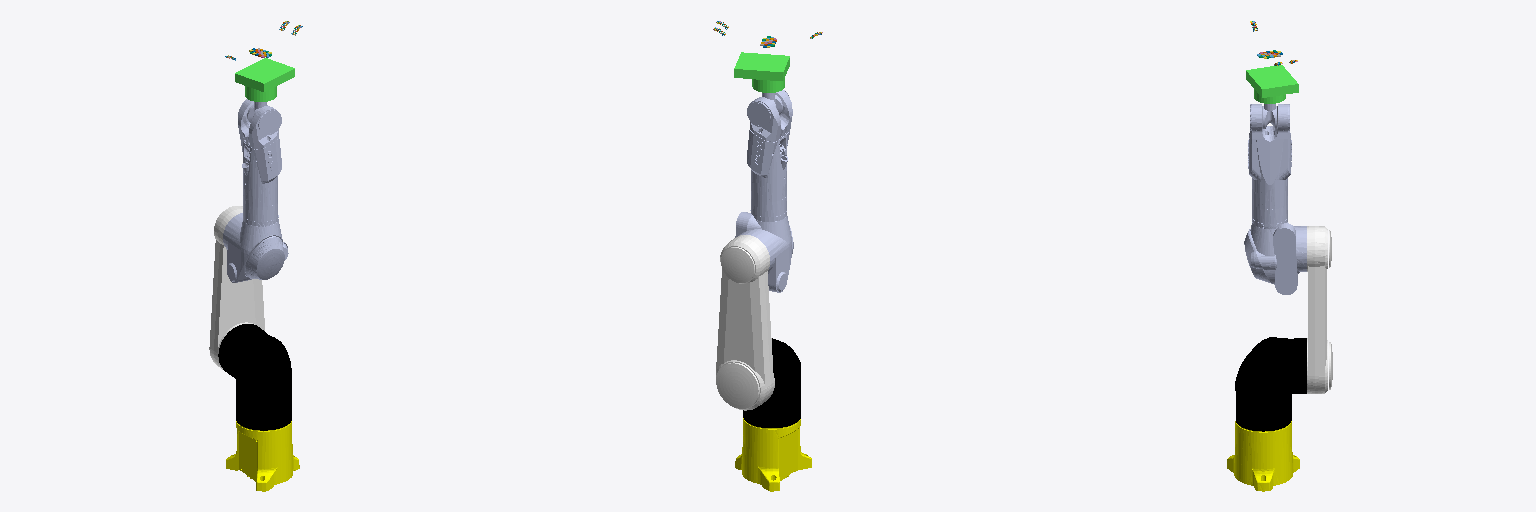
--- Render facts (derived) ---
Views: 3 orthographic renders of the robot side by side, from view 1: azimuth 30°, elevation 25°; view 2: azimuth 150°, elevation 25°; view 3: azimuth 270°, elevation 25°.
Model staubli_bhand with 119 links and 118 joints (14 revolute, 104 fixed), rooted at staubli_rx60l_link1, posed all joints at 0.
Links seen in each view (by area): view 1: staubli_rx60l_link2, staubli_rx60l_link5, staubli_rx60l_link3, staubli_rx60l_link4, staubli_rx60l_link1, barrett_mount_link; view 2: staubli_rx60l_link3, staubli_rx60l_link5, staubli_rx60l_link1, staubli_rx60l_link2, staubli_rx60l_link4, barrett_mount_link, wrist_load_cell; view 3: staubli_rx60l_link2, staubli_rx60l_link5, staubli_rx60l_link3, staubli_rx60l_link4, staubli_rx60l_link1, barrett_mount_link.
Link boxes in pixels (x1,y1,x2,y2): staubli_rx60l_link2: (218,324,291,430); staubli_rx60l_link5: (238,99,281,221); staubli_rx60l_link3: (209,206,264,369); staubli_rx60l_link4: (223,213,288,282); staubli_rx60l_link1: (226,421,299,491); barrett_mount_link: (235,58,294,91); staubli_rx60l_link3: (716,235,774,410); staubli_rx60l_link5: (747,90,792,216); staubli_rx60l_link1: (735,418,811,491); staubli_rx60l_link2: (743,338,800,427); staubli_rx60l_link4: (735,210,793,292); barrett_mount_link: (734,52,789,80); wrist_load_cell: (752,56,784,92); staubli_rx60l_link2: (1235,337,1306,431); staubli_rx60l_link5: (1248,104,1291,223); staubli_rx60l_link3: (1307,226,1332,393); staubli_rx60l_link4: (1244,218,1306,294); staubli_rx60l_link1: (1227,421,1299,491); barrett_mount_link: (1246,65,1298,97).
Bounding box of the posed robot: 0.3216 × 0.3308 × 1.49 m (x, y, z).
Meshes: 11 distinct files referenced, 7 mesh visuals loaded (7 Collada DAE); not drawn: 9 (reference not matched to a file when rendering).

The robot description file, URDF, robot "staubli_bhand":
<?xml version="1.0" ?>
<!-- =================================================================================== -->
<!-- |    This document was autogenerated by xacro from staubli_bhand.xacro            | -->
<!-- |    EDITING THIS FILE BY HAND IS NOT RECOMMENDED                                 | -->
<!-- =================================================================================== -->
<robot name="staubli_bhand">
    <!-- links -->
    <link name="staubli_rx60l_link1">
        <inertial>
            <mass value="0.1"/>
            <origin rpy="0 0 0" xyz="0 0 0"/>
            <inertia ixx="0.01" ixy="0" ixz="0" iyy="0.01" iyz="0" izz="0.01"/>
        </inertial>
        <visual>
            <origin rpy="0 0 0" xyz="0 0 0"/>
            <geometry>
                <mesh filename="package://staubli_description/meshes/tx60l/collada/1.dae" scale=".001 .001 .001"/>
            </geometry>
            <material name="Yellow">
                <color rgba="245 196 0 1.0"/>
            </material>
        </visual>
        <!--<collision>-->
            <!--<origin rpy="0 0 0" xyz="0 0 0"/>-->
            <!--<geometry>-->
                <!--<mesh filename="package://staubli_description/meshes/tx60l/collada/1.dae" scale=".001 .001 .001"/>-->
            <!--</geometry>-->
            <!--<material name="Yellow">-->
                <!--<color rgba="245 196 0 1.0"/>-->
            <!--</material>-->
            <!--<inertial>-->
                <!--<origin xyz="0 0 0"/>-->
                <!--<mass value="50.573"/>-->
                <!--<inertia ixx="0.0001" ixy="0.0" ixz="0.0" iyy="0.0001" iyz="0.0" izz="0.001"/>-->
            <!--</inertial>-->
        <!--</collision>-->
    </link>
    <link name="staubli_rx60l_link2">
        <inertial>
            <mass value="0.1"/>
            <origin rpy="0 0 0" xyz="0 0 0"/>
            <inertia ixx="0.01" ixy="0" ixz="0" iyy="0.01" iyz="0" izz="0.01"/>
        </inertial>
        <visual>
            <origin rpy="0 0 0" xyz="0 0 0"/>
            <geometry>
                <mesh filename="package://staubli_description/meshes/tx60l/collada/2.dae" scale=".001 .001 .001"/>
            </geometry>
            <material name="Black">
                <color rgba="0 0 0 1.0"/>
            </material>
        </visual>
        <!--<collision>-->
            <!--<origin rpy="0 0 0" xyz="0 0 0"/>-->
            <!--<geometry>-->
                <!--<mesh filename="package://staubli_description/meshes/tx60l/collada/2.dae" scale=".001 .001 .001"/>-->
            <!--</geometry>-->
            <!--<material name="Black">-->
                <!--<color rgba="0 0 0 1.0"/>-->
            <!--</material>-->
            <!--<inertial>-->
                <!--<origin xyz="0 0 0"/>-->
                <!--<mass value="50.573"/>-->
                <!--<inertia ixx="0.0001" ixy="0.0" ixz="0.0" iyy="0.0001" iyz="0.0" izz="0.001"/>-->
            <!--</inertial>-->
        <!--</collision>-->
    </link>
    <link name="staubli_rx60l_link3">
        <inertial>
            <mass value="0.1"/>
            <origin rpy="0 0 0" xyz="0 0 0"/>
            <inertia ixx="0.01" ixy="0" ixz="0" iyy="0.01" iyz="0" izz="0.01"/>
        </inertial>
        <visual>
            <origin rpy="0 0 0" xyz="-0.4 0 0"/>
            <geometry>
                <mesh filename="package://staubli_description/meshes/tx60l/collada/3.dae" scale=".001 .001 .001"/>
            </geometry>
            <material name="White">
                <color rgba="255 255 255 1.0"/>
            </material>
        </visual>
        <!--<collision>-->
            <!--<origin rpy="0 0 0" xyz="-0.4 0 0"/>-->
            <!--<geometry>-->
                <!--<mesh filename="package://staubli_description/meshes/tx60l/collada/3.dae" scale=".001 .001 .001"/>-->
            <!--</geometry>-->
            <!--<material name="White">-->
                <!--<color rgba="[phone redacted] 1.0"/>-->
            <!--</material>-->
        <!--</collision>-->
    </link>
    <link name="staubli_rx60l_link4">
        <inertial>
            <mass value="0.1"/>
            <origin rpy="0 0 0" xyz="0 0 0"/>
            <inertia ixx="0.01" ixy="0" ixz="0" iyy="0.01" iyz="0" izz="0.01"/>
        </inertial>
        <visual>
            <origin rpy="0 0 0" xyz="0 0 0"/>
            <geometry>
                <mesh filename="package://staubli_description/meshes/tx60l/collada/4.dae" scale=".001 .001 .001"/>
            </geometry>
            <material name="Blue"/>
        </visual>
        <!--<collision>-->
            <!--<origin rpy="0 0 0" xyz="0 0 0"/>-->
            <!--<geometry>-->
                <!--<mesh filename="package://staubli_description/meshes/tx60l/collada/4.dae" scale=".001 .001 .001"/>-->
            <!--</geometry>-->
            <!--<material name="Blue">-->
                <!--<color rgba="0 0 255 1.0"/>-->
            <!--</material>-->
        <!--</collision>-->
    </link>
    <link name="staubli_rx60l_link5">
        <inertial>
            <mass value="0.1"/>
            <origin rpy="0 0 0" xyz="0 0 0"/>
            <inertia ixx="0.01" ixy="0" ixz="0" iyy="0.01" iyz="0" izz="0.01"/>
        </inertial>
        <visual>
            <origin rpy="0 0 0" xyz="0 0 0"/>
            <geometry>
                <mesh filename="package://staubli_description/meshes/tx60l/collada/5.dae" scale=".001 .001 .001"/>
            </geometry>
            <material name="Blue"/>
        </visual>
        <!--<collision>-->
            <!--<origin rpy="0 0 0" xyz="0 0 0"/>-->
            <!--<geometry>-->
                <!--<mesh filename="package://staubli_description/meshes/tx60l/collada/5.dae" scale=".001 .001 .001"/>-->
            <!--</geometry>-->
            <!--<material name="Blue">-->
                <!--<color rgba="0 0 255 1.0"/>-->
            <!--</material>-->
        <!--</collision>-->
    </link>
    <link name="staubli_rx60l_link6">
        <inertial>
            <mass value="0.1"/>
            <origin rpy="0 0 0" xyz="0 0 0"/>
            <inertia ixx="0.01" ixy="0" ixz="0" iyy="0.01" iyz="0" izz="0.01"/>
        </inertial>
        <visual>
            <origin rpy="0 0 0" xyz="0 0 0"/>
            <geometry>
                <mesh filename="package://staubli_description/meshes/tx60l/collada/6.dae" scale=".001 .001 .001"/>
            </geometry>
            <material name="Blue"/>
        </visual>
        <!--<collision>-->
            <!--<origin rpy="0 0 0" xyz="0 0 0"/>-->
            <!--<geometry>-->
                <!--<mesh filename="package://staubli_description/meshes/tx60l/collada/6.dae" scale=".001 .001 .001"/>-->
            <!--</geometry>-->
            <!--<material name="Blue">-->
                <!--<color rgba="0 0 255 1.0"/>-->
            <!--</material>-->
        <!--</collision>-->
    </link>
    <link name="staubli_rx60l_link7">
        <inertial>
            <mass value="0.1"/>
            <origin rpy="0 0 0" xyz="0 0 0"/>
            <inertia ixx="0.01" ixy="0" ixz="0" iyy="0.01" iyz="0" izz="0.01"/>
        </inertial>
        <visual>
            <origin rpy="0 0 0" xyz="0 0 0"/>
            <geometry>
                <mesh filename="package://staubli_description/meshes/tx60l/collada/7.dae" scale=".001 .001 .001"/>
            </geometry>
            <material name="Gray">
                <color rgba="100 100 100 1.0"/>
            </material>
        </visual>
        <!--<collision>-->
            <!--<origin rpy="0 0 0" xyz="0 0 0"/>-->
            <!--<geometry>-->
                <!--<mesh filename="package://staubli_description/meshes/tx60l/collada/7.dae" scale=".001 .001 .001"/>-->
            <!--</geometry>-->
            <!--<material name="Gray">-->
                <!--<color rgba="[phone redacted] 1.0"/>-->
            <!--</material>-->
        <!--</collision>-->
    </link>
    <link name="staubli_rx60l_tool0">
        <inertial>
            <mass value="0.1"/>
            <origin rpy="0 0 0" xyz="0 0 0"/>
            <inertia ixx="0.01" ixy="0" ixz="0" iyy="0.01" iyz="0" izz="0.01"/>
        </inertial>
    </link>

    <!-- joints -->
    <joint name="joint_1" type="revolute">
        <origin rpy="1.57079 0.0 3.1415" xyz="0 0 0"/>
        <parent link="staubli_rx60l_link1"/>
        <child link="staubli_rx60l_link2"/>
        <axis xyz="0 1 0"/>
        <limit effort="100" lower="-2.792526803" upper="2.792526803" velocity="5.009094953"/>
    </joint>
    <joint name="joint_2" type="revolute">
        <origin rpy="0 0 -1.5707" xyz="0 0.0 0.1606"/>
        <parent link="staubli_rx60l_link2"/>
        <child link="staubli_rx60l_link3"/>
        <axis xyz="0 0 1"/>
        <limit effort="100" lower="-2.225294796" upper="2.225294796" velocity="5.009094953"/>
    </joint>
    <joint name="joint_3" type="revolute">
        <origin rpy="1.5707 0 -1.5707" xyz="-0.4 0.0 -0.1406"/>
        <parent link="staubli_rx60l_link3"/>
        <child link="staubli_rx60l_link4"/>
        <axis xyz="0 1 0"/>
        <limit effort="100" lower="-2.347467844" upper="2.347467844" velocity="5.567600314"/>
    </joint>
    <joint name="joint_4" type="revolute">
        <origin rpy="1.571 -0.000 3.142" xyz="0 0 0.45"/>
        <parent link="staubli_rx60l_link4"/>
        <child link="staubli_rx60l_link5"/>
        <axis xyz="0 1 0"/>
        <limit effort="100" lower="-4.71238898" upper="4.71238898" velocity="7.155849933"/>
    </joint>
    <joint name="joint_5" type="revolute">
        <origin rpy="1.571 0.000 3.142" xyz="0 0 0.0"/>
        <parent link="staubli_rx60l_link5"/>
        <child link="staubli_rx60l_link6"/>
        <axis xyz="0 1 0"/>
        <limit effort="100" lower="-1.78" upper="1.86" velocity="5.585053606"/>
    </joint>
    <joint name="joint_6" type="revolute">
        <origin xyz="0 0 0.07"/>
        <parent link="staubli_rx60l_link6"/>
        <child link="staubli_rx60l_link7"/>
        <axis xyz="0 0 1"/>
        <limit effort="100" lower="-6.2" upper="6.2" velocity="12.217304764"/>
    </joint>
    <joint name="joint_6-tool0" type="fixed">
        <parent link="staubli_rx60l_link7"/>
        <child link="staubli_rx60l_tool0"/>
        <origin rpy="0 0 0" xyz="0 0 0"/>
    </joint>
    <link name="wrist_load_cell">
        <visual>
            <material name="ATIGreen">
                <color rgba="0.4 1.0 0.4 1.0"/>
            </material>
            <origin rpy="0 0 0" xyz="0 0 0"/>
            <geometry>
                <cylinder length="0.0775" radius="0.05"/>
            </geometry>
        </visual>
        <collision>
            <material name="ATIGreen">
                <color rgba="0.4 1.0 0.4 1.0"/>
            </material>
            <origin rpy="0 0 0" xyz="0 0 0"/>
            <geometry>
                <cylinder length="0.0775" radius="0.065"/>
            </geometry>
        </collision>
        <inertial>
            <origin xyz="0 0 0"/>
            <mass value="0.50573"/>
            <inertia ixx="0.0001" ixy="0.0" ixz="0.0" iyy="0.0001" iyz="0.0" izz="0.001"/>
        </inertial>
    </link>
    <joint name="ati_load_cell_joint" type="fixed">
        <origin rpy="0 0 0" xyz="0 0 0.03875"/>
        <parent link="staubli_rx60l_link7"/>
        <child link="wrist_load_cell"/>
    </joint>
    <link name="barrett_mount_link">
        <visual>
            <origin rpy="0 0 0" xyz="0.0 0.02 0"/>
            <material name="ATIGreen">
                <color rgba="0.4 1.0 0.4 1.0"/>
            </material>
            <geometry>
                <box size="0.12 0.15 0.03"/>
            </geometry>
        </visual>
        <collision>
            <origin rpy="0 0 0" xyz="0.0 0.02 0"/>
            <material name="ATIGreen">
                <color rgba="0.4 1.0 0.4 1.0"/>
            </material>
            <geometry>
                <cylinder length="0.0775" radius="0.065"/>
            </geometry>
        </collision>
        <inertial>
            <origin xyz="0 0 0"/>
            <mass value="0.50573"/>
            <inertia ixx="0.0001" ixy="0.0" ixz="0.0" iyy="0.0001" iyz="0.0" izz="0.001"/>
        </inertial>
    </link>
    <joint name="barrett_mount_joint" type="fixed">
        <origin rpy="0 0 5.0614" xyz="0 0 0.0625"/>
        <parent link="staubli_rx60l_link7"/>
        <child link="barrett_mount_link"/>
    </joint>
    <link name="approach_tran">
        <inertial>
            <origin xyz="0 0 0"/>
            <mass value="0.001"/>
            <inertia ixx="0.0001" ixy="0.0" ixz="0.0" iyy="0.0001" iyz="0.0" izz="0.001"/>
        </inertial>
    </link>
    <joint name="approach_tran_joint" type="fixed">
        <origin rpy="0 0 5.0614" xyz="0 0 0.149"/>
        <parent link="staubli_rx60l_link7"/>
        <child link="approach_tran"/>
    </joint>
    <joint name="bh_base_joint" type="fixed">
        <origin rpy="0 0 5.0614" xyz="0 0 0.0705"/>
        <parent link="staubli_rx60l_link7"/>
        <child link="bh_base_link"/>
    </joint>
    <!-- HAND WORLD_LINK (RED) -->
    <link name="bh_base_link">
        <inertial>
            <mass value="1.0"/>
            <origin xyz="0 0 0"/>
            <inertia ixx="1.0" ixy="0.0" ixz="0.0" iyy="1.0" iyz="0.0" izz="1.0"/>
        </inertial>
        <visual>
            <origin rpy="0 0 0" xyz="0 0 0"/>
            <geometry>
                <mesh filename="package://barrett_hand_description/meshes/palm_280.dae"/>
            </geometry>
            <material name="White"/>
        </visual>
        <collision>
            <origin rpy="0 0 0 " xyz="0 0 0"/>
            <geometry>
                <mesh filename="package://barrett_hand_description/meshes/palm_280.dae"/>
            </geometry>
            <contact_coefficients kd="1.0" kp="1000.0" mu="0"/>
        </collision>
    </link>
    <!-- finger 3 -->
    <!-- finger 32 link -->
    <link name="bh_finger_32_link">
        <inertial>
            <mass value="0.1"/>
            <origin rpy="0 0 0" xyz="0 0 0"/>
            <inertia ixx="0.01" ixy="0" ixz="0" iyy="0.01" iyz="0" izz="0.01"/>
        </inertial>
        <visual>
            <origin rpy="0 0 0" xyz="0 0 0"/>
            <geometry>
                <mesh filename="package://barrett_hand_description/meshes/finger.dae"/>
            </geometry>
            <material name="Blue"/>
        </visual>
        <collision>
            <origin rpy="0 0 0" xyz="0 0 0"/>
            <geometry>
                <mesh filename="package://barrett_hand_description/meshes/finger.dae"/>
            </geometry>
            <contact_coefficients kd="1.0" kp="1000.0" mu="0"/>
        </collision>
    </link>
    <!-- joint between BH_finger_31_link and BH_finger_32_link -->
    <joint name="bh_j32_joint" type="revolute">
        <parent link="bh_base_link"/>
        <child link="bh_finger_32_link"/>
        <origin rpy="1.5708 0 1.5708" xyz="0 -0.05 0.0754"/>
        <axis xyz="0 0 -1"/>
        <limit effort="30.0" lower="0.0" upper="2.44" velocity="2.0"/>
        <dynamics damping="1" friction="1.0"/>
    </joint>
    <transmission name="bh_j32_transmission">
        <type>transmission_interface/SimpleTransmission</type>
        <joint name="bh_j32_joint">
            <hardwareInterface>PositionJointInterface</hardwareInterface>
        </joint>
        <actuator name="bh_j32">
            <hardwareInterface>PositionJointInterface</hardwareInterface>
            <mechanicalReduction>1</mechanicalReduction>
            <motorTorqueConstant>1</motorTorqueConstant>
        </actuator>
    </transmission>
    <!-- finger 33 link -->
    <link name="bh_finger_33_link">
        <inertial>
            <mass value="0.1"/>
            <origin rpy="0 0 0" xyz="0 0 0"/>
            <inertia ixx="0.01" ixy="0" ixz="0" iyy="0.01" iyz="0" izz="0.01"/>
        </inertial>
        <visual>
            <origin rpy="0 0 0" xyz="0 0 0"/>
            <geometry>
                <mesh filename="package://barrett_hand_description/meshes/finger_tip.dae"/>
            </geometry>
            <material name="White"/>
        </visual>
        <collision>
            <origin rpy="0 0 0" xyz="0 0 0"/>
            <geometry>
                <mesh filename="package://barrett_hand_description/meshes/finger_tip.dae"/>
            </geometry>
            <contact_coefficients kd="1.0" kp="1000.0" mu="0"/>
        </collision>
    </link>
    <!-- joint between BH_finger_32_link and BH_finger_33_link -->
    <joint name="bh_j33_joint" type="revolute">
        <parent link="bh_finger_32_link"/>
        <child link="bh_finger_33_link"/>
        <origin rpy="0 0 0" xyz="-0.069936 0.003 0"/>
        <axis xyz="0 0 -1"/>
        <mimic joint="bh_j32_joint" multiplier="0.344262295082"/>
        <limit effort="30.0" lower="0.0" upper="0.84" velocity="2.0"/>
        <dynamics damping="1" friction="1.0"/>
    </joint>
    <transmission name="bh_j33_transmission">
        <type>transmission_interface/SimpleTransmission</type>
        <joint name="bh_j33_joint">
            <hardwareInterface>PositionJointInterface</hardwareInterface>
        </joint>
        <actuator name="bh_j33">
            <hardwareInterface>PositionJointInterface</hardwareInterface>
            <mechanicalReduction>1</mechanicalReduction>
            <motorTorqueConstant>1</motorTorqueConstant>
        </actuator>
    </transmission>
    <!-- finger 1 -->
    <!-- finger 11 link -->
    <link name="bh_finger_11_link">
        <inertial>
            <mass value="0.1"/>
            <origin rpy="0 0 0" xyz="-0.046 0 0"/>
            <inertia ixx="0.01" ixy="0" ixz="0" iyy="0.01" iyz="0" izz="0.01"/>
        </inertial>
        <visual>
            <origin rpy="0 0 0" xyz="0 0 0"/>
            <geometry>
                <mesh filename="package://barrett_hand_description/meshes/knuckle.dae"/>
            </geometry>
            <material name="Green"/>
        </visual>
        <collision>
            <origin rpy="0 0 0" xyz="0 0 0"/>
            <geometry>
                <mesh filename="package://barrett_hand_description/meshes/knuckle.dae"/>
            </geometry>
        </collision>
    </link>
    <!-- joint between BH_palm_link and BH_finger_11_link -->
    <joint name="bh_j11_joint" type="revolute">
        <parent link="bh_base_link"/>
        <child link="bh_finger_11_link"/>
        <origin rpy="0 0 -1.5708" xyz="0.025 0 0.0415"/>
        <axis xyz="0 0 -1"/>
        <limit effort="30.0" lower="0" upper="3.1416" velocity="2.0"/>
        <dynamics damping="1" friction="1.0"/>
    </joint>
    <transmission name="bh_j11_transmission">
        <type>transmission_interface/SimpleTransmission</type>
        <joint name="bh_j11_joint">
            <hardwareInterface>PositionJointInterface</hardwareInterface>
        </joint>
        <actuator name="bh_j11">
            <hardwareInterface>PositionJointInterface</hardwareInterface>
            <mechanicalReduction>1</mechanicalReduction>
            <motorTorqueConstant>1</motorTorqueConstant>
        </actuator>
    </transmission>
    <!-- finger 12 link -->
    <link name="bh_finger_12_link">
        <inertial>
            <mass value="0.1"/>
            <origin rpy="0 0 0" xyz="0 0 0"/>
            <inertia ixx="0.01" ixy="0" ixz="0" iyy="0.01" iyz="0" izz="0.01"/>
        </inertial>
        <visual>
            <origin rpy="0 0 0" xyz="0 0 0"/>
            <geometry>
                <mesh filename="package://barrett_hand_description/meshes/finger.dae"/>
            </geometry>
            <material name="Blue"/>
        </visual>
        <collision>
            <origin rpy="0 0 0" xyz="0 0 0"/>
            <geometry>
                <mesh filename="package://barrett_hand_description/meshes/finger.dae"/>
            </geometry>
            <contact_coefficients kd="1.0" kp="1000.0" mu="0"/>
        </collision>
    </link>
    <!-- joint between BH_finger_11_link and BH_finger_12_link -->
    <joint name="bh_j12_joint" type="revolute">
        <parent link="bh_finger_11_link"/>
        <child link="bh_finger_12_link"/>
        <origin rpy="1.5708 0 0" xyz="-0.05 0 0.0339"/>
        <axis xyz="0 0 -1"/>
        <limit effort="30.0" lower="0.0" upper="2.44" velocity="2.0"/>
        <dynamics damping="1" friction="1.0"/>
    </joint>
    <transmission name="bh_j12_transmission">
        <type>transmission_interface/SimpleTransmission</type>
        <joint name="bh_j12_joint">
            <hardwareInterface>PositionJointInterface</hardwareInterface>
        </joint>
        <actuator name="bh_j12">
            <hardwareInterface>PositionJointInterface</hardwareInterface>
            <mechanicalReduction>1</mechanicalReduction>
            <motorTorqueConstant>1</motorTorqueConstant>
        </actuator>
    </transmission>
    <!-- finger 13 link -->
    <link name="bh_finger_13_link">
        <inertial>
            <mass value="0.1"/>
            <origin rpy="0 0 0" xyz="0 0 0"/>
            <inertia ixx="0.01" ixy="0" ixz="0" iyy="0.01" iyz="0" izz="0.01"/>
        </inertial>
        <visual>
            <origin rpy="0 0 0" xyz="0 0 0"/>
            <geometry>
                <mesh filename="package://barrett_hand_description/meshes/finger_tip.dae"/>
            </geometry>
            <material name="White"/>
        </visual>
        <collision>
            <origin rpy="0 0 0" xyz="0 0 0"/>
            <geometry>
                <mesh filename="package://barrett_hand_description/meshes/finger_tip.dae"/>
            </geometry>
            <contact_coefficients kd="1.0" kp="1000.0" mu="0"/>
        </collision>
    </link>
    <!-- joint between BH_finger_12_link and BH_finger_13_link -->
    <joint name="bh_j13_joint" type="revolute">
        <parent link="bh_finger_12_link"/>
        <child link="bh_finger_13_link"/>
        <origin rpy="0 0 0" xyz="-0.069936 0.003 0"/>
        <axis xyz="0 0 -1"/>
        <mimic joint="bh_j12_joint" multiplier="0.344262295082"/>
        <limit effort="30.0" lower="0.0" upper="0.84" velocity="2.0"/>
        <dynamics damping="1" friction="1.0"/>
    </joint>
    <transmission name="bh_j13_transmission">
        <type>transmission_interface/SimpleTransmission</type>
        <joint name="bh_j13_joint">
            <hardwareInterface>PositionJointInterface</hardwareInterface>
        </joint>
        <actuator name="bh_j13">
            <hardwareInterface>PositionJointInterface</hardwareInterface>
            <mechanicalReduction>1</mechanicalReduction>
            <motorTorqueConstant>1</motorTorqueConstant>
        </actuator>
    </transmission>
    <!-- finger 2 -->
    <!-- finger 21 link -->
    <link name="bh_finger_21_link">
        <inertial>
            <mass value="0.1"/>
            <origin rpy="0 0 0" xyz="-0.046 0 0"/>
            <inertia ixx="0.01" ixy="0" ixz="0" iyy="0.01" iyz="0" izz="0.01"/>
        </inertial>
        <visual>
            <origin rpy="0 0 0" xyz="0 0 0"/>
            <geometry>
                <mesh filename="package://barrett_hand_description/meshes/knuckle.dae"/>
            </geometry>
            <material name="Green"/>
        </visual>
        <collision>
            <origin rpy="0 0 0" xyz="0 0 0"/>
            <geometry>
                <mesh filename="package://barrett_hand_description/meshes/knuckle.dae"/>
            </geometry>
        </collision>
    </link>
    <!-- joint between BH_palm_link and BH_finger_21_link -->
    <joint name="bh_j21_joint" type="revolute">
        <parent link="bh_base_link"/>
        <child link="bh_finger_21_link"/>
        <origin rpy="0 0 -1.5708" xyz="-0.025 0 0.0415"/>
        <axis xyz="0 0 1"/>
        <mimic joint="bh_j11_joint" multiplier="1"/>
        <limit effort="30.0" lower="0" upper="3.1416" velocity="2.0"/>
        <dynamics damping="1" friction="1.0"/>
    </joint>
    <transmission name="bh_j21_transmission">
        <type>transmission_interface/SimpleTransmission</type>
        <joint name="bh_j21_joint">
            <hardwareInterface>PositionJointInterface</hardwareInterface>
        </joint>
        <actuator name="bh_j21">
            <hardwareInterface>PositionJointInterface</hardwareInterface>
            <mechanicalReduction>1</mechanicalReduction>
            <motorTorqueConstant>1</motorTorqueConstant>
        </actuator>
    </transmission>
    <!-- finger 12 link -->
    <link name="bh_finger_22_link">
        <inertial>
            <mass value="0.1"/>
            <origin rpy="0 0 0" xyz="0 0 0"/>
            <inertia ixx="0.01" ixy="0" ixz="0" iyy="0.01" iyz="0" izz="0.01"/>
        </inertial>
        <visual>
            <origin rpy="0 0 0" xyz="0 0 0"/>
            <geometry>
                <mesh filename="package://barrett_hand_description/meshes/finger.dae"/>
            </geometry>
            <material name="Blue"/>
        </visual>
        <collision>
            <origin rpy="0 0 0" xyz="0 0 0"/>
            <geometry>
                <mesh filename="package://barrett_hand_description/meshes/finger.dae"/>
            </geometry>
            <contact_coefficients kd="1.0" kp="1000.0" mu="0"/>
        </collision>
    </link>
    <!-- joint between BH_finger_21_link and BH_finger_22_link -->
    <joint name="bh_j22_joint" type="revolute">
        <parent link="bh_finger_21_link"/>
        <child link="bh_finger_22_link"/>
        <origin rpy="1.5708 -8.8281E-17 0" xyz="-0.05 0 0.0339"/>
        <axis xyz="0 0 -1"/>
        <limit effort="30.0" lower="0.0" upper="2.44" velocity="2.0"/>
        <dynamics damping="1" friction="1.0"/>
    </joint>
    <transmission name="bh_j22_transmission">
        <type>transmission_interface/SimpleTransmission</type>
        <joint name="bh_j22_joint">
            <hardwareInterface>PositionJointInterface</hardwareInterface>
        </joint>
        <actuator name="bh_j22">
            <hardwareInterface>PositionJointInterface</hardwareInterface>
            <mechanicalReduction>1</mechanicalReduction>
            <motorTorqueConstant>1</motorTorqueConstant>
        </actuator>
    </transmission>
    <!-- finger 23 link -->
    <link name="bh_finger_23_link">
        <inertial>
            <mass value="0.1"/>
            <origin rpy="0 0 0" xyz="0 0 0"/>
            <inertia ixx="0.01" ixy="0" ixz="0" iyy="0.01" iyz="0" izz="0.01"/>
        </inertial>
        <visual>
            <origin rpy="0 0 0" xyz="0 0 0"/>
            <geometry>
                <mesh filename="package://barrett_hand_description/meshes/finger_tip.dae"/>
            </geometry>
            <material name="White"/>
        </visual>
        <collision>
            <origin rpy="0 0 0" xyz="0 0 0"/>
            <geometry>
                <mesh filename="package://barrett_hand_description/meshes/finger_tip.dae"/>
            </geometry>
            <contact_coefficients kd="1.0" kp="1000.0" mu="0"/>
        </collision>
    </link>
    <!-- joint between BH_finger_22_link and BH_finger_23_link -->
    <joint name="bh_j23_joint" type="revolute">
        <parent link="bh_finger_22_link"/>
        <child link="bh_finger_23_link"/>
        <origin rpy="0 0 0" xyz="-0.069936 0.003 0"/>
        <axis xyz="0 0 -1"/>
        <mimic joint="bh_j22_joint" multiplier="0.344262295082"/>
        <limit effort="30.0" lower="0.0" upper="0.84" velocity="2.0"/>
        <dynamics damping="1" friction="1.0"/>
    </joint>
    <transmission name="bh_j23_transmission">
        <type>transmission_interface/SimpleTransmission</type>
        <joint name="bh_j23_joint">
            <hardwareInterface>PositionJointInterface</hardwareInterface>
        </joint>
        <actuator name="bh_j23">
            <hardwareInterface>PositionJointInterface</hardwareInterface>
            <mechanicalReduction>1</mechanicalReduction>
            <motorTorqueConstant>1</motorTorqueConstant>
        </actuator>
    </transmission>
    <gazebo>
        <plugin filename="libgazebo_mimic_plugin.so" name="mimic_plugin">
            <joint>bh_j11_joint</joint>
            <mimicJoint>bh_j21_joint</mimicJoint>
            <multiplier>1</multiplier>
        </plugin>
    </gazebo>
    <gazebo>
        <plugin filename="libgazebo_mimic_plugin.so" name="mimic_plugin">
            <joint>bh_j12_joint</joint>
            <mimicJoint>bh_j13_joint</mimicJoint>
            <multiplier>0.344</multiplier>
        </plugin>
    </gazebo>
    <gazebo>
        <plugin filename="libgazebo_mimic_plugin.so" name="mimic_plugin">
            <joint>bh_j22_joint</joint>
            <mimicJoint>bh_j23_joint</mimicJoint>
            <multiplier>0.344</multiplier>
        </plugin>
    </gazebo>
    <gazebo>
        <plugin filename="libgazebo_mimic_plugin.so" name="mimic_plugin">
            <joint>bh_j32_joint</joint>
            <mimicJoint>bh_j33_joint</mimicJoint>
            <multiplier>0.344</multiplier>
        </plugin>
    </gazebo>
    <gazebo reference="bh_base_link">
        <material>Gazebo/White</material>
        <turnGravityOff>False</turnGravityOff>
    </gazebo>
    <gazebo reference="bh_finger_31_link">
        <material>Gazebo/Grey</material>
        <turnGravityOff>False</turnGravityOff>
    </gazebo>
    <gazebo reference="bh_finger_32_link">
        <material>Gazebo/Grey</material>
        <turnGravityOff>False</turnGravityOff>
    </gazebo>
    <gazebo reference="bh_finger_33_link">
        <material>Gazebo/Grey</material>
        <turnGravityOff>False</turnGravityOff>
    </gazebo>
    <gazebo reference="bh_finger_11_link">
        <material>Gazebo/Grey</material>
        <turnGravityOff>False</turnGravityOff>
    </gazebo>
    <gazebo reference="bh_finger_12_link">
        <material>Gazebo/Grey</material>
        <turnGravityOff>False</turnGravityOff>
    </gazebo>
    <gazebo reference="bh_finger_13_link">
        <material>Gazebo/Grey</material>
        <turnGravityOff>False</turnGravityOff>
    </gazebo>
    <gazebo reference="bh_finger_21_link">
        <material>Gazebo/Grey</material>
        <turnGravityOff>False</turnGravityOff>
    </gazebo>
    <gazebo reference="bh_finger_22_link">
        <material>Gazebo/Grey</material>
        <turnGravityOff>False</turnGravityOff>
    </gazebo>
    <gazebo reference="bh_finger_23_link">
        <material>Gazebo/Grey</material>
        <turnGravityOff>False</turnGravityOff>
    </gazebo>
    <!-- Imaginary joints for transform from tactile sensors -->
    <!-- Radian value obtained from graspit description of 40 degrees -->
    <joint name="bh_finger_14_joint" type="fixed">
        <parent link="bh_finger_13_link"/>
        <child link="bh_finger_14_link"/>
        <origin rpy="0 0 0.872665" xyz="0 0 0"/>
    </joint>
    <link name="bh_finger_14_link">
        <inertial>
            <mass value="0.1"/>
            <origin rpy="0 0 0" xyz="0 0 0"/>
            <inertia ixx="0.01" ixy="0" ixz="0" iyy="0.01" iyz="0" izz="0.01"/>
        </inertial>
    </link>
    <joint name="bh_finger_24_joint" type="fixed">
        <parent link="bh_finger_23_link"/>
        <child link="bh_finger_24_link"/>
        <origin rpy="0 0 0.872665" xyz="0 0 0"/>
    </joint>
    <link name="bh_finger_24_link">
        <inertial>
            <mass value="0.1"/>
            <origin rpy="0 0 0" xyz="0 0 0"/>
            <inertia ixx="0.01" ixy="0" ixz="0" iyy="0.01" iyz="0" izz="0.01"/>
        </inertial>
    </link>
    <joint name="bh_finger_34_joint" type="fixed">
        <parent link="bh_finger_33_link"/>
        <child link="bh_finger_34_link"/>
        <origin rpy="0 0 0.872665" xyz="0 0 0"/>
    </joint>
    <link name="bh_finger_34_link">
        <inertial>
            <mass value="0.1"/>
            <origin rpy="0 0 0" xyz="0 0 0"/>
            <inertia ixx="0.01" ixy="0" ixz="0" iyy="0.01" iyz="0" izz="0.01"/>
        </inertial>
    </link>
    <!-- Auto generated tactile sensor links -->
    <joint name="bh_palm_sensor1_joint" type="fixed">
        <origin rpy="0 0 0" xyz="-0.022 0.0165 0.075"/>
        <parent link="bh_base_link"/>
        <child link="bh_palm_sensor_1_link"/>
    </joint>
    <link name="bh_palm_sensor_1_link">
        <inertial>
            <mass value="0.1"/>
            <origin rpy="0 0 0" xyz="0 0 0"/>
            <inertia ixx="0.01" ixy="0" ixz="0" iyy="0.01" iyz="0" izz="0.01"/>
        </inertial>
        <visual>
            <origin rpy="0 0 0" xyz="0 0 0"/>
            <material name="Blue"/>
            <geometry>
                <box size="0.01 0.01 0.004"/>
            </geometry>
        </visual>
        <collision>
            <origin rpy="0 0 0 " xyz="0 0 0"/>
            <geometry>
                <box size="0.01 0.01 0.004"/>
            </geometry>
        </collision>
    </link>
    <joint name="bh_palm_sensor2_joint" type="fixed">
        <origin rpy="0 0 0" xyz="-0.011 0.0165 0.075"/>
        <parent link="bh_base_link"/>
        <child link="bh_palm_sensor_2_link"/>
    </joint>
    <link name="bh_palm_sensor_2_link">
        <inertial>
            <mass value="0.1"/>
            <origin rpy="0 0 0" xyz="0 0 0"/>
            <inertia ixx="0.01" ixy="0" ixz="0" iyy="0.01" iyz="0" izz="0.01"/>
        </inertial>
        <visual>
            <origin rpy="0 0 0" xyz="0 0 0"/>
            <material name="Blue"/>
            <geometry>
                <box size="0.01 0.01 0.004"/>
            </geometry>
        </visual>
        <collision>
            <origin rpy="0 0 0 " xyz="0 0 0"/>
            <geometry>
                <box size="0.01 0.01 0.004"/>
            </geometry>
        </collision>
    </link>
    <joint name="bh_palm_sensor3_joint" type="fixed">
        <origin rpy="0 0 0" xyz="0.0 0.0165 0.075"/>
        <parent link="bh_base_link"/>
        <child link="bh_palm_sensor_3_link"/>
    </joint>
    <link name="bh_palm_sensor_3_link">
        <inertial>
            <mass value="0.1"/>
            <origin rpy="0 0 0" xyz="0 0 0"/>
            <inertia ixx="0.01" ixy="0" ixz="0" iyy="0.01" iyz="0" izz="0.01"/>
        </inertial>
        <visual>
            <origin rpy="0 0 0" xyz="0 0 0"/>
            <material name="Blue"/>
            <geometry>
                <box size="0.01 0.01 0.004"/>
            </geometry>
        </visual>
        <collision>
            <origin rpy="0 0 0 " xyz="0 0 0"/>
            <geometry>
                <box size="0.01 0.01 0.004"/>
            </geometry>
        </collision>
    </link>
    <joint name="bh_palm_sensor4_joint" type="fixed">
        <origin rpy="0 0 0" xyz="0.011 0.0165 0.075"/>
        <parent link="bh_base_link"/>
        <child link="bh_palm_sensor_4_link"/>
    </joint>
    <link name="bh_palm_sensor_4_link">
        <inertial>
            <mass value="0.1"/>
            <origin rpy="0 0 0" xyz="0 0 0"/>
            <inertia ixx="0.01" ixy="0" ixz="0" iyy="0.01" iyz="0" izz="0.01"/>
        </inertial>
        <visual>
            <origin rpy="0 0 0" xyz="0 0 0"/>
            <material name="Blue"/>
            <geometry>
                <box size="0.01 0.01 0.004"/>
            </geometry>
        </visual>
        <collision>
            <origin rpy="0 0 0 " xyz="0 0 0"/>
            <geometry>
                <box size="0.01 0.01 0.004"/>
            </geometry>
        </collision>
    </link>
    <joint name="bh_palm_sensor5_joint" type="fixed">
        <origin rpy="0 0 0" xyz="0.022 0.0165 0.075"/>
        <parent link="bh_base_link"/>
        <child link="bh_palm_sensor_5_link"/>
    </joint>
    <link name="bh_palm_sensor_5_link">
        <inertial>
            <mass value="0.1"/>
            <origin rpy="0 0 0" xyz="0 0 0"/>
            <inertia ixx="0.01" ixy="0" ixz="0" iyy="0.01" iyz="0" izz="0.01"/>
        </inertial>
        <visual>
            <origin rpy="0 0 0" xyz="0 0 0"/>
            <material name="Blue"/>
            <geometry>
                <box size="0.01 0.01 0.004"/>
            </geometry>
        </visual>
        <collision>
            <origin rpy="0 0 0 " xyz="0 0 0"/>
            <geometry>
                <box size="0.01 0.01 0.004"/>
            </geometry>
        </collision>
    </link>
    <joint name="bh_palm_sensor6_joint" type="fixed">
        <origin rpy="0 0 0" xyz="-0.033 0.0055 0.075"/>
        <parent link="bh_base_link"/>
        <child link="bh_palm_sensor_6_link"/>
    </joint>
    <link name="bh_palm_sensor_6_link">
        <inertial>
            <mass value="0.1"/>
            <origin rpy="0 0 0" xyz="0 0 0"/>
            <inertia ixx="0.01" ixy="0" ixz="0" iyy="0.01" iyz="0" izz="0.01"/>
        </inertial>
        <visual>
            <origin rpy="0 0 0" xyz="0 0 0"/>
            <material name="Blue"/>
            <geometry>
                <box size="0.01 0.01 0.004"/>
            </geometry>
        </visual>
        <collision>
            <origin rpy="0 0 0 " xyz="0 0 0"/>
            <geometry>
                <box size="0.01 0.01 0.004"/>
            </geometry>
        </collision>
    </link>
    <joint name="bh_palm_sensor7_joint" type="fixed">
        <origin rpy="0 0 0" xyz="-0.022 0.0055 0.075"/>
        <parent link="bh_base_link"/>
        <child link="bh_palm_sensor_7_link"/>
    </joint>
    <link name="bh_palm_sensor_7_link">
        <inertial>
            <mass value="0.1"/>
            <origin rpy="0 0 0" xyz="0 0 0"/>
            <inertia ixx="0.01" ixy="0" ixz="0" iyy="0.01" iyz="0" izz="0.01"/>
        </inertial>
        <visual>
            <origin rpy="0 0 0" xyz="0 0 0"/>
            <material name="Blue"/>
            <geometry>
                <box size="0.01 0.01 0.004"/>
            </geometry>
        </visual>
        <collision>
            <origin rpy="0 0 0 " xyz="0 0 0"/>
            <geometry>
                <box size="0.01 0.01 0.004"/>
            </geometry>
        </collision>
    </link>
    <joint name="bh_palm_sensor8_joint" type="fixed">
        <origin rpy="0 0 0" xyz="-0.011 0.0055 0.075"/>
        <parent link="bh_base_link"/>
        <child link="bh_palm_sensor_8_link"/>
    </joint>
    <link name="bh_palm_sensor_8_link">
        <inertial>
            <mass value="0.1"/>
            <origin rpy="0 0 0" xyz="0 0 0"/>
            <inertia ixx="0.01" ixy="0" ixz="0" iyy="0.01" iyz="0" izz="0.01"/>
        </inertial>
        <visual>
            <origin rpy="0 0 0" xyz="0 0 0"/>
            <material name="Blue"/>
            <geometry>
                <box size="0.01 0.01 0.004"/>
            </geometry>
        </visual>
        <collision>
            <origin rpy="0 0 0 " xyz="0 0 0"/>
            <geometry>
                <box size="0.01 0.01 0.004"/>
            </geometry>
        </collision>
    </link>
    <joint name="bh_palm_sensor9_joint" type="fixed">
        <origin rpy="0 0 0" xyz="0.0 0.0055 0.075"/>
        <parent link="bh_base_link"/>
        <child link="bh_palm_sensor_9_link"/>
    </joint>
    <link name="bh_palm_sensor_9_link">
        <inertial>
            <mass value="0.1"/>
            <origin rpy="0 0 0" xyz="0 0 0"/>
            <inertia ixx="0.01" ixy="0" ixz="0" iyy="0.01" iyz="0" izz="0.01"/>
        </inertial>
        <visual>
            <origin rpy="0 0 0" xyz="0 0 0"/>
            <material name="Blue"/>
            <geometry>
                <box size="0.01 0.01 0.004"/>
            </geometry>
        </visual>
        <collision>
            <origin rpy="0 0 0 " xyz="0 0 0"/>
            <geometry>
                <box size="0.01 0.01 0.004"/>
            </geometry>
        </collision>
    </link>
    <joint name="bh_palm_sensor10_joint" type="fixed">
        <origin rpy="0 0 0" xyz="0.011 0.0055 0.075"/>
        <parent link="bh_base_link"/>
        <child link="bh_palm_sensor_10_link"/>
    </joint>
    <link name="bh_palm_sensor_10_link">
        <inertial>
            <mass value="0.1"/>
            <origin rpy="0 0 0" xyz="0 0 0"/>
            <inertia ixx="0.01" ixy="0" ixz="0" iyy="0.01" iyz="0" izz="0.01"/>
        </inertial>
        <visual>
            <origin rpy="0 0 0" xyz="0 0 0"/>
            <material name="Blue"/>
            <geometry>
                <box size="0.01 0.01 0.004"/>
            </geometry>
        </visual>
        <collision>
            <origin rpy="0 0 0 " xyz="0 0 0"/>
            <geometry>
                <box size="0.01 0.01 0.004"/>
            </geometry>
        </collision>
    </link>
    <joint name="bh_palm_sensor11_joint" type="fixed">
        <origin rpy="0 0 0" xyz="0.022 0.0055 0.075"/>
        <parent link="bh_base_link"/>
        <child link="bh_palm_sensor_11_link"/>
    </joint>
    <link name="bh_palm_sensor_11_link">
        <inertial>
            <mass value="0.1"/>
            <origin rpy="0 0 0" xyz="0 0 0"/>
            <inertia ixx="0.01" ixy="0" ixz="0" iyy="0.01" iyz="0" izz="0.01"/>
        </inertial>
        <visual>
            <origin rpy="0 0 0" xyz="0 0 0"/>
            <material name="Blue"/>
            <geometry>
                <box size="0.01 0.01 0.004"/>
            </geometry>
        </visual>
        <collision>
            <origin rpy="0 0 0 " xyz="0 0 0"/>
            <geometry>
                <box size="0.01 0.01 0.004"/>
            </geometry>
        </collision>
    </link>
    <joint name="bh_palm_sensor12_joint" type="fixed">
        <origin rpy="0 0 0" xyz="0.033 0.0055 0.075"/>
        <parent link="bh_base_link"/>
        <child link="bh_palm_sensor_12_link"/>
    </joint>
    <link name="bh_palm_sensor_12_link">
        <inertial>
            <mass value="0.1"/>
            <origin rpy="0 0 0" xyz="0 0 0"/>
            <inertia ixx="0.01" ixy="0" ixz="0" iyy="0.01" iyz="0" izz="0.01"/>
        </inertial>
        <visual>
            <origin rpy="0 0 0" xyz="0 0 0"/>
            <material name="Blue"/>
            <geometry>
                <box size="0.01 0.01 0.004"/>
            </geometry>
        </visual>
        <collision>
            <origin rpy="0 0 0 " xyz="0 0 0"/>
            <geometry>
                <box size="0.01 0.01 0.004"/>
            </geometry>
        </collision>
    </link>
    <joint name="bh_palm_sensor13_joint" type="fixed">
        <origin rpy="0 0 0" xyz="-0.033 -0.0055 0.075"/>
        <parent link="bh_base_link"/>
        <child link="bh_palm_sensor_13_link"/>
    </joint>
    <link name="bh_palm_sensor_13_link">
        <inertial>
            <mass value="0.1"/>
            <origin rpy="0 0 0" xyz="0 0 0"/>
            <inertia ixx="0.01" ixy="0" ixz="0" iyy="0.01" iyz="0" izz="0.01"/>
        </inertial>
        <visual>
            <origin rpy="0 0 0" xyz="0 0 0"/>
            <material name="Blue"/>
            <geometry>
                <box size="0.01 0.01 0.004"/>
            </geometry>
        </visual>
        <collision>
            <origin rpy="0 0 0 " xyz="0 0 0"/>
            <geometry>
                <box size="0.01 0.01 0.004"/>
            </geometry>
        </collision>
    </link>
    <joint name="bh_palm_sensor14_joint" type="fixed">
        <origin rpy="0 0 0" xyz="-0.022 -0.0055 0.075"/>
        <parent link="bh_base_link"/>
        <child link="bh_palm_sensor_14_link"/>
    </joint>
    <link name="bh_palm_sensor_14_link">
        <inertial>
            <mass value="0.1"/>
            <origin rpy="0 0 0" xyz="0 0 0"/>
            <inertia ixx="0.01" ixy="0" ixz="0" iyy="0.01" iyz="0" izz="0.01"/>
        </inertial>
        <visual>
            <origin rpy="0 0 0" xyz="0 0 0"/>
            <material name="Blue"/>
            <geometry>
                <box size="0.01 0.01 0.004"/>
            </geometry>
        </visual>
        <collision>
            <origin rpy="0 0 0 " xyz="0 0 0"/>
            <geometry>
                <box size="0.01 0.01 0.004"/>
            </geometry>
        </collision>
    </link>
    <joint name="bh_palm_sensor15_joint" type="fixed">
        <origin rpy="0 0 0" xyz="-0.011 -0.0055 0.075"/>
        <parent link="bh_base_link"/>
        <child link="bh_palm_sensor_15_link"/>
    </joint>
    <link name="bh_palm_sensor_15_link">
        <inertial>
            <mass value="0.1"/>
            <origin rpy="0 0 0" xyz="0 0 0"/>
            <inertia ixx="0.01" ixy="0" ixz="0" iyy="0.01" iyz="0" izz="0.01"/>
        </inertial>
        <visual>
            <origin rpy="0 0 0" xyz="0 0 0"/>
            <material name="Blue"/>
            <geometry>
                <box size="0.01 0.01 0.004"/>
            </geometry>
        </visual>
        <collision>
            <origin rpy="0 0 0 " xyz="0 0 0"/>
            <geometry>
                <box size="0.01 0.01 0.004"/>
            </geometry>
        </collision>
    </link>
    <joint name="bh_palm_sensor16_joint" type="fixed">
        <origin rpy="0 0 0" xyz="0.0 -0.0055 0.075"/>
        <parent link="bh_base_link"/>
        <child link="bh_palm_sensor_16_link"/>
    </joint>
    <link name="bh_palm_sensor_16_link">
        <inertial>
            <mass value="0.1"/>
            <origin rpy="0 0 0" xyz="0 0 0"/>
            <inertia ixx="0.01" ixy="0" ixz="0" iyy="0.01" iyz="0" izz="0.01"/>
        </inertial>
        <visual>
            <origin rpy="0 0 0" xyz="0 0 0"/>
            <material name="Blue"/>
            <geometry>
                <box size="0.01 0.01 0.004"/>
            </geometry>
        </visual>
        <collision>
            <origin rpy="0 0 0 " xyz="0 0 0"/>
            <geometry>
                <box size="0.01 0.01 0.004"/>
            </geometry>
        </collision>
    </link>
    <joint name="bh_palm_sensor17_joint" type="fixed">
        <origin rpy="0 0 0" xyz="0.011 -0.0055 0.075"/>
        <parent link="bh_base_link"/>
        <child link="bh_palm_sensor_17_link"/>
    </joint>
    <link name="bh_palm_sensor_17_link">
        <inertial>
            <mass value="0.1"/>
            <origin rpy="0 0 0" xyz="0 0 0"/>
            <inertia ixx="0.01" ixy="0" ixz="0" iyy="0.01" iyz="0" izz="0.01"/>
        </inertial>
        <visual>
            <origin rpy="0 0 0" xyz="0 0 0"/>
            <material name="Blue"/>
            <geometry>
                <box size="0.01 0.01 0.004"/>
            </geometry>
        </visual>
        <collision>
            <origin rpy="0 0 0 " xyz="0 0 0"/>
            <geometry>
                <box size="0.01 0.01 0.004"/>
            </geometry>
        </collision>
    </link>
    <joint name="bh_palm_sensor18_joint" type="fixed">
        <origin rpy="0 0 0" xyz="0.022 -0.0055 0.075"/>
        <parent link="bh_base_link"/>
        <child link="bh_palm_sensor_18_link"/>
    </joint>
    <link name="bh_palm_sensor_18_link">
        <inertial>
            <mass value="0.1"/>
            <origin rpy="0 0 0" xyz="0 0 0"/>
            <inertia ixx="0.01" ixy="0" ixz="0" iyy="0.01" iyz="0" izz="0.01"/>
        </inertial>
        <visual>
            <origin rpy="0 0 0" xyz="0 0 0"/>
            <material name="Blue"/>
            <geometry>
                <box size="0.01 0.01 0.004"/>
            </geometry>
        </visual>
        <collision>
            <origin rpy="0 0 0 " xyz="0 0 0"/>
            <geometry>
                <box size="0.01 0.01 0.004"/>
            </geometry>
        </collision>
    </link>
    <joint name="bh_palm_sensor19_joint" type="fixed">
        <origin rpy="0 0 0" xyz="0.033 -0.0055 0.075"/>
        <parent link="bh_base_link"/>
        <child link="bh_palm_sensor_19_link"/>
    </joint>
    <link name="bh_palm_sensor_19_link">
        <inertial>
            <mass value="0.1"/>
            <origin rpy="0 0 0" xyz="0 0 0"/>
            <inertia ixx="0.01" ixy="0" ixz="0" iyy="0.01" iyz="0" izz="0.01"/>
        </inertial>
        <visual>
            <origin rpy="0 0 0" xyz="0 0 0"/>
            <material name="Blue"/>
            <geometry>
                <box size="0.01 0.01 0.004"/>
            </geometry>
        </visual>
        <collision>
            <origin rpy="0 0 0 " xyz="0 0 0"/>
            <geometry>
                <box size="0.01 0.01 0.004"/>
            </geometry>
        </collision>
    </link>
    <joint name="bh_palm_sensor20_joint" type="fixed">
        <origin rpy="0 0 0" xyz="-0.022 -0.0165 0.075"/>
        <parent link="bh_base_link"/>
        <child link="bh_palm_sensor_20_link"/>
    </joint>
    <link name="bh_palm_sensor_20_link">
        <inertial>
            <mass value="0.1"/>
            <origin rpy="0 0 0" xyz="0 0 0"/>
            <inertia ixx="0.01" ixy="0" ixz="0" iyy="0.01" iyz="0" izz="0.01"/>
        </inertial>
        <visual>
            <origin rpy="0 0 0" xyz="0 0 0"/>
            <material name="Blue"/>
            <geometry>
                <box size="0.01 0.01 0.004"/>
            </geometry>
        </visual>
        <collision>
            <origin rpy="0 0 0 " xyz="0 0 0"/>
            <geometry>
                <box size="0.01 0.01 0.004"/>
            </geometry>
        </collision>
    </link>
    <joint name="bh_palm_sensor21_joint" type="fixed">
        <origin rpy="0 0 0" xyz="-0.011 -0.0165 0.075"/>
        <parent link="bh_base_link"/>
        <child link="bh_palm_sensor_21_link"/>
    </joint>
    <link name="bh_palm_sensor_21_link">
        <inertial>
            <mass value="0.1"/>
            <origin rpy="0 0 0" xyz="0 0 0"/>
            <inertia ixx="0.01" ixy="0" ixz="0" iyy="0.01" iyz="0" izz="0.01"/>
        </inertial>
        <visual>
            <origin rpy="0 0 0" xyz="0 0 0"/>
            <material name="Blue"/>
            <geometry>
                <box size="0.01 0.01 0.004"/>
            </geometry>
        </visual>
        <collision>
            <origin rpy="0 0 0 " xyz="0 0 0"/>
            <geometry>
                <box size="0.01 0.01 0.004"/>
            </geometry>
        </collision>
    </link>
    <joint name="bh_palm_sensor22_joint" type="fixed">
        <origin rpy="0 0 0" xyz="0.0 -0.0165 0.075"/>
        <parent link="bh_base_link"/>
        <child link="bh_palm_sensor_22_link"/>
    </joint>
    <link name="bh_palm_sensor_22_link">
        <inertial>
            <mass value="0.1"/>
            <origin rpy="0 0 0" xyz="0 0 0"/>
            <inertia ixx="0.01" ixy="0" ixz="0" iyy="0.01" iyz="0" izz="0.01"/>
        </inertial>
        <visual>
            <origin rpy="0 0 0" xyz="0 0 0"/>
            <material name="Blue"/>
            <geometry>
                <box size="0.01 0.01 0.004"/>
            </geometry>
        </visual>
        <collision>
            <origin rpy="0 0 0 " xyz="0 0 0"/>
            <geometry>
                <box size="0.01 0.01 0.004"/>
            </geometry>
        </collision>
    </link>
    <joint name="bh_palm_sensor23_joint" type="fixed">
        <origin rpy="0 0 0" xyz="0.011 -0.0165 0.075"/>
        <parent link="bh_base_link"/>
        <child link="bh_palm_sensor_23_link"/>
    </joint>
    <link name="bh_palm_sensor_23_link">
        <inertial>
            <mass value="0.1"/>
            <origin rpy="0 0 0" xyz="0 0 0"/>
            <inertia ixx="0.01" ixy="0" ixz="0" iyy="0.01" iyz="0" izz="0.01"/>
        </inertial>
        <visual>
            <origin rpy="0 0 0" xyz="0 0 0"/>
            <material name="Blue"/>
            <geometry>
                <box size="0.01 0.01 0.004"/>
            </geometry>
        </visual>
        <collision>
            <origin rpy="0 0 0 " xyz="0 0 0"/>
            <geometry>
                <box size="0.01 0.01 0.004"/>
            </geometry>
        </collision>
    </link>
    <joint name="bh_palm_sensor24_joint" type="fixed">
        <origin rpy="0 0 0" xyz="0.022 -0.0165 0.075"/>
        <parent link="bh_base_link"/>
        <child link="bh_palm_sensor_24_link"/>
    </joint>
    <link name="bh_palm_sensor_24_link">
        <inertial>
            <mass value="0.1"/>
            <origin rpy="0 0 0" xyz="0 0 0"/>
            <inertia ixx="0.01" ixy="0" ixz="0" iyy="0.01" iyz="0" izz="0.01"/>
        </inertial>
        <visual>
            <origin rpy="0 0 0" xyz="0 0 0"/>
            <material name="Blue"/>
            <geometry>
                <box size="0.01 0.01 0.004"/>
            </geometry>
        </visual>
        <collision>
            <origin rpy="0 0 0 " xyz="0 0 0"/>
            <geometry>
                <box size="0.01 0.01 0.004"/>
            </geometry>
        </collision>
    </link>
    <joint name="bh_link1_sensor1_joint" type="fixed">
        <origin rpy="0 0 0" xyz="0.0105 0.02225 -0.005175"/>
        <parent link="bh_finger_14_link"/>
        <child link="bh_link1_sensor1_link"/>
    </joint>
    <link name="bh_link1_sensor1_link">
        <inertial>
            <mass value="0.1"/>
            <origin rpy="0 0 0" xyz="0 0 0"/>
            <inertia ixx="0.01" ixy="0" ixz="0" iyy="0.01" iyz="0" izz="0.01"/>
        </inertial>
        <visual>
            <origin rpy="0 0 0" xyz="0 0 0"/>
            <material name="Blue"/>
            <geometry>
                <box size="0.0055 0.003 0.00465"/>
            </geometry>
        </visual>
        <collision>
            <origin rpy="0 0 0" xyz="0 0 0"/>
            <material name="Blue"/>
            <geometry>
                <box size="0.0055 0.003 0.00465"/>
            </geometry>
        </collision>
    </link>
    <joint name="bh_link1_sensor2_joint" type="fixed">
        <origin rpy="0 0 0" xyz="0.0105 0.02225 0.0"/>
        <parent link="bh_finger_14_link"/>
        <child link="bh_link1_sensor2_link"/>
    </joint>
    <link name="bh_link1_sensor2_link">
        <inertial>
            <mass value="0.1"/>
            <origin rpy="0 0 0" xyz="0 0 0"/>
            <inertia ixx="0.01" ixy="0" ixz="0" iyy="0.01" iyz="0" izz="0.01"/>
        </inertial>
        <visual>
            <origin rpy="0 0 0" xyz="0 0 0"/>
            <material name="Blue"/>
            <geometry>
                <box size="0.0055 0.003 0.0047"/>
            </geometry>
        </visual>
        <collision>
            <origin rpy="0 0 0" xyz="0 0 0"/>
            <material name="Blue"/>
            <geometry>
                <box size="0.0055 0.003 0.0047"/>
            </geometry>
        </collision>
    </link>
    <joint name="bh_link1_sensor3_joint" type="fixed">
        <origin rpy="0 0 0" xyz="0.0105 0.02225 0.0052"/>
        <parent link="bh_finger_14_link"/>
        <child link="bh_link1_sensor3_link"/>
    </joint>
    <link name="bh_link1_sensor3_link">
        <inertial>
            <mass value="0.1"/>
            <origin rpy="0 0 0" xyz="0 0 0"/>
            <inertia ixx="0.01" ixy="0" ixz="0" iyy="0.01" iyz="0" izz="0.01"/>
        </inertial>
        <visual>
            <origin rpy="0 0 0" xyz="0 0 0"/>
            <material name="Blue"/>
            <geometry>
                <box size="0.0055 0.003 0.0047"/>
            </geometry>
        </visual>
        <collision>
            <origin rpy="0 0 0" xyz="0 0 0"/>
            <material name="Blue"/>
            <geometry>
                <box size="0.0055 0.003 0.0047"/>
            </geometry>
        </collision>
    </link>
    <joint name="bh_link1_sensor4_joint" type="fixed">
        <origin rpy="0 0 0" xyz="0.0105 0.02825 -0.005175"/>
        <parent link="bh_finger_14_link"/>
        <child link="bh_link1_sensor4_link"/>
    </joint>
    <link name="bh_link1_sensor4_link">
        <inertial>
            <mass value="0.1"/>
            <origin rpy="0 0 0" xyz="0 0 0"/>
            <inertia ixx="0.01" ixy="0" ixz="0" iyy="0.01" iyz="0" izz="0.01"/>
        </inertial>
        <visual>
            <origin rpy="0 0 0" xyz="0 0 0"/>
            <material name="Blue"/>
            <geometry>
                <box size="0.0055 0.003 0.00465"/>
            </geometry>
        </visual>
        <collision>
            <origin rpy="0 0 0" xyz="0 0 0"/>
            <material name="Blue"/>
            <geometry>
                <box size="0.0055 0.003 0.00465"/>
            </geometry>
        </collision>
    </link>
    <joint name="bh_link1_sensor5_joint" type="fixed">
        <origin rpy="0 0 0" xyz="0.0105 0.02825 0.0"/>
        <parent link="bh_finger_14_link"/>
        <child link="bh_link1_sensor5_link"/>
    </joint>
    <link name="bh_link1_sensor5_link">
        <inertial>
            <mass value="0.1"/>
            <origin rpy="0 0 0" xyz="0 0 0"/>
            <inertia ixx="0.01" ixy="0" ixz="0" iyy="0.01" iyz="0" izz="0.01"/>
        </inertial>
        <visual>
            <origin rpy="0 0 0" xyz="0 0 0"/>
            <material name="Blue"/>
            <geometry>
                <box size="0.0055 0.003 0.0047"/>
            </geometry>
        </visual>
        <collision>
            <origin rpy="0 0 0" xyz="0 0 0"/>
            <material name="Blue"/>
            <geometry>
                <box size="0.0055 0.003 0.0047"/>
            </geometry>
        </collision>
    </link>
    <joint name="bh_link1_sensor6_joint" type="fixed">
        <origin rpy="0 0 0" xyz="0.0105 0.02825 0.0052"/>
        <parent link="bh_finger_14_link"/>
        <child link="bh_link1_sensor6_link"/>
    </joint>
    <link name="bh_link1_sensor6_link">
        <inertial>
            <mass value="0.1"/>
            <origin rpy="0 0 0" xyz="0 0 0"/>
            <inertia ixx="0.01" ixy="0" ixz="0" iyy="0.01" iyz="0" izz="0.01"/>
        </inertial>
        <visual>
            <origin rpy="0 0 0" xyz="0 0 0"/>
            <material name="Blue"/>
            <geometry>
                <box size="0.0055 0.003 0.0047"/>
            </geometry>
        </visual>
        <collision>
            <origin rpy="0 0 0" xyz="0 0 0"/>
            <material name="Blue"/>
            <geometry>
                <box size="0.0055 0.003 0.0047"/>
            </geometry>
        </collision>
    </link>
    <joint name="bh_link1_sensor7_joint" type="fixed">
        <origin rpy="0 0 0" xyz="0.0105 0.03425 -0.005175"/>
        <parent link="bh_finger_14_link"/>
        <child link="bh_link1_sensor7_link"/>
    </joint>
    <link name="bh_link1_sensor7_link">
        <inertial>
            <mass value="0.1"/>
            <origin rpy="0 0 0" xyz="0 0 0"/>
            <inertia ixx="0.01" ixy="0" ixz="0" iyy="0.01" iyz="0" izz="0.01"/>
        </inertial>
        <visual>
            <origin rpy="0 0 0" xyz="0 0 0"/>
            <material name="Blue"/>
            <geometry>
                <box size="0.0055 0.003 0.00465"/>
            </geometry>
        </visual>
        <collision>
            <origin rpy="0 0 0" xyz="0 0 0"/>
            <material name="Blue"/>
            <geometry>
                <box size="0.0055 0.003 0.00465"/>
            </geometry>
        </collision>
    </link>
    <joint name="bh_link1_sensor8_joint" type="fixed">
        <origin rpy="0 0 0" xyz="0.0105 0.03425 0.0"/>
        <parent link="bh_finger_14_link"/>
        <child link="bh_link1_sensor8_link"/>
    </joint>
    <link name="bh_link1_sensor8_link">
        <inertial>
            <mass value="0.1"/>
            <origin rpy="0 0 0" xyz="0 0 0"/>
            <inertia ixx="0.01" ixy="0" ixz="0" iyy="0.01" iyz="0" izz="0.01"/>
        </inertial>
        <visual>
            <origin rpy="0 0 0" xyz="0 0 0"/>
            <material name="Blue"/>
            <geometry>
                <box size="0.0055 0.003 0.0047"/>
            </geometry>
        </visual>
        <collision>
            <origin rpy="0 0 0" xyz="0 0 0"/>
            <material name="Blue"/>
            <geometry>
                <box size="0.0055 0.003 0.0047"/>
            </geometry>
        </collision>
    </link>
    <joint name="bh_link1_sensor9_joint" type="fixed">
        <origin rpy="0 0 0" xyz="0.0105 0.03425 0.0052"/>
        <parent link="bh_finger_14_link"/>
        <child link="bh_link1_sensor9_link"/>
    </joint>
    <link name="bh_link1_sensor9_link">
        <inertial>
            <mass value="0.1"/>
            <origin rpy="0 0 0" xyz="0 0 0"/>
            <inertia ixx="0.01" ixy="0" ixz="0" iyy="0.01" iyz="0" izz="0.01"/>
        </inertial>
        <visual>
            <origin rpy="0 0 0" xyz="0 0 0"/>
            <material name="Blue"/>
            <geometry>
                <box size="0.0055 0.003 0.0047"/>
            </geometry>
        </visual>
        <collision>
            <origin rpy="0 0 0" xyz="0 0 0"/>
            <material name="Blue"/>
            <geometry>
                <box size="0.0055 0.003 0.0047"/>
            </geometry>
        </collision>
    </link>
    <joint name="bh_link1_sensor10_joint" type="fixed">
        <origin rpy="0 0 0" xyz="0.0105 0.04025 -0.005175"/>
        <parent link="bh_finger_14_link"/>
        <child link="bh_link1_sensor10_link"/>
    </joint>
    <link name="bh_link1_sensor10_link">
        <inertial>
            <mass value="0.1"/>
            <origin rpy="0 0 0" xyz="0 0 0"/>
            <inertia ixx="0.01" ixy="0" ixz="0" iyy="0.01" iyz="0" izz="0.01"/>
        </inertial>
        <visual>
            <origin rpy="0 0 0" xyz="0 0 0"/>
            <material name="Blue"/>
            <geometry>
                <box size="0.0055 0.003 0.00465"/>
            </geometry>
        </visual>
        <collision>
            <origin rpy="0 0 0" xyz="0 0 0"/>
            <material name="Blue"/>
            <geometry>
                <box size="0.0055 0.003 0.00465"/>
            </geometry>
        </collision>
    </link>
    <joint name="bh_link1_sensor11_joint" type="fixed">
        <origin rpy="0 0 0" xyz="0.0105 0.04025 0.0"/>
        <parent link="bh_finger_14_link"/>
        <child link="bh_link1_sensor11_link"/>
    </joint>
    <link name="bh_link1_sensor11_link">
        <inertial>
            <mass value="0.1"/>
            <origin rpy="0 0 0" xyz="0 0 0"/>
            <inertia ixx="0.01" ixy="0" ixz="0" iyy="0.01" iyz="0" izz="0.01"/>
        </inertial>
        <visual>
            <origin rpy="0 0 0" xyz="0 0 0"/>
            <material name="Blue"/>
            <geometry>
                <box size="0.0055 0.003 0.0047"/>
            </geometry>
        </visual>
        <collision>
            <origin rpy="0 0 0" xyz="0 0 0"/>
            <material name="Blue"/>
            <geometry>
                <box size="0.0055 0.003 0.0047"/>
            </geometry>
        </collision>
    </link>
    <joint name="bh_link1_sensor12_joint" type="fixed">
        <origin rpy="0 0 0" xyz="0.0105 0.04025 0.0052"/>
        <parent link="bh_finger_14_link"/>
        <child link="bh_link1_sensor12_link"/>
    </joint>
    <link name="bh_link1_sensor12_link">
        <inertial>
            <mass value="0.1"/>
            <origin rpy="0 0 0" xyz="0 0 0"/>
            <inertia ixx="0.01" ixy="0" ixz="0" iyy="0.01" iyz="0" izz="0.01"/>
        </inertial>
        <visual>
            <origin rpy="0 0 0" xyz="0 0 0"/>
            <material name="Blue"/>
            <geometry>
                <box size="0.0055 0.003 0.0047"/>
            </geometry>
        </visual>
        <collision>
            <origin rpy="0 0 0" xyz="0 0 0"/>
            <material name="Blue"/>
            <geometry>
                <box size="0.0055 0.003 0.0047"/>
            </geometry>
        </collision>
    </link>
    <joint name="bh_link1_sensor13_joint" type="fixed">
        <origin rpy="0 0 0" xyz="0.0095 0.04625 -0.005175"/>
        <parent link="bh_finger_14_link"/>
        <child link="bh_link1_sensor13_link"/>
    </joint>
    <link name="bh_link1_sensor13_link">
        <inertial>
            <mass value="0.1"/>
            <origin rpy="0 0 0" xyz="0 0 0"/>
            <inertia ixx="0.01" ixy="0" ixz="0" iyy="0.01" iyz="0" izz="0.01"/>
        </inertial>
        <visual>
            <origin rpy="0 0 0" xyz="0 0 0"/>
            <material name="Blue"/>
            <geometry>
                <box size="0.0055 0.003 0.00465"/>
            </geometry>
        </visual>
        <collision>
            <origin rpy="0 0 0" xyz="0 0 0"/>
            <material name="Blue"/>
            <geometry>
                <box size="0.0055 0.003 0.00465"/>
            </geometry>
        </collision>
    </link>
    <joint name="bh_link1_sensor14_joint" type="fixed">
        <origin rpy="0 0 0" xyz="0.0095 0.04625 0.0"/>
        <parent link="bh_finger_14_link"/>
        <child link="bh_link1_sensor14_link"/>
    </joint>
    <link name="bh_link1_sensor14_link">
        <inertial>
            <mass value="0.1"/>
            <origin rpy="0 0 0" xyz="0 0 0"/>
            <inertia ixx="0.01" ixy="0" ixz="0" iyy="0.01" iyz="0" izz="0.01"/>
        </inertial>
        <visual>
            <origin rpy="0 0 0" xyz="0 0 0"/>
            <material name="Blue"/>
            <geometry>
                <box size="0.0055 0.003 0.0047"/>
            </geometry>
        </visual>
        <collision>
            <origin rpy="0 0 0" xyz="0 0 0"/>
            <material name="Blue"/>
            <geometry>
                <box size="0.0055 0.003 0.0047"/>
            </geometry>
        </collision>
    </link>
    <joint name="bh_link1_sensor15_joint" type="fixed">
        <origin rpy="0 0 0" xyz="0.0095 0.04625 0.0052"/>
        <parent link="bh_finger_14_link"/>
        <child link="bh_link1_sensor15_link"/>
    </joint>
    <link name="bh_link1_sensor15_link">
        <inertial>
            <mass value="0.1"/>
            <origin rpy="0 0 0" xyz="0 0 0"/>
            <inertia ixx="0.01" ixy="0" ixz="0" iyy="0.01" iyz="0" izz="0.01"/>
        </inertial>
        <visual>
            <origin rpy="0 0 0" xyz="0 0 0"/>
            <material name="Blue"/>
            <geometry>
                <box size="0.0055 0.003 0.0047"/>
            </geometry>
        </visual>
        <collision>
            <origin rpy="0 0 0" xyz="0 0 0"/>
            <material name="Blue"/>
            <geometry>
                <box size="0.0055 0.003 0.0047"/>
            </geometry>
        </collision>
    </link>
    <joint name="bh_link1_sensor16_joint" type="fixed">
        <origin rpy="0 0 0" xyz="0.008 0.051 -0.005175"/>
        <parent link="bh_finger_14_link"/>
        <child link="bh_link1_sensor16_link"/>
    </joint>
    <link name="bh_link1_sensor16_link">
        <inertial>
            <mass value="0.1"/>
            <origin rpy="0 0 0" xyz="0 0 0"/>
            <inertia ixx="0.01" ixy="0" ixz="0" iyy="0.01" iyz="0" izz="0.01"/>
        </inertial>
        <visual>
            <origin rpy="0 0 0" xyz="0 0 0"/>
            <material name="Blue"/>
            <geometry>
                <box size="0.003 0.003 0.00465"/>
            </geometry>
        </visual>
        <collision>
            <origin rpy="0 0 0" xyz="0 0 0"/>
            <material name="Blue"/>
            <geometry>
                <box size="0.003 0.003 0.00465"/>
            </geometry>
        </collision>
    </link>
    <joint name="bh_link1_sensor17_joint" type="fixed">
        <origin rpy="0 0 0" xyz="0.008 0.051 0.0"/>
        <parent link="bh_finger_14_link"/>
        <child link="bh_link1_sensor17_link"/>
    </joint>
    <link name="bh_link1_sensor17_link">
        <inertial>
            <mass value="0.1"/>
            <origin rpy="0 0 0" xyz="0 0 0"/>
            <inertia ixx="0.01" ixy="0" ixz="0" iyy="0.01" iyz="0" izz="0.01"/>
        </inertial>
        <visual>
            <origin rpy="0 0 0" xyz="0 0 0"/>
            <material name="Blue"/>
            <geometry>
                <box size="0.003 0.003 0.0047"/>
            </geometry>
        </visual>
        <collision>
            <origin rpy="0 0 0" xyz="0 0 0"/>
            <material name="Blue"/>
            <geometry>
                <box size="0.003 0.003 0.0047"/>
            </geometry>
        </collision>
    </link>
    <joint name="bh_link1_sensor18_joint" type="fixed">
        <origin rpy="0 0 0" xyz="0.008 0.051 0.0052"/>
        <parent link="bh_finger_14_link"/>
        <child link="bh_link1_sensor18_link"/>
    </joint>
    <link name="bh_link1_sensor18_link">
        <inertial>
            <mass value="0.1"/>
            <origin rpy="0 0 0" xyz="0 0 0"/>
            <inertia ixx="0.01" ixy="0" ixz="0" iyy="0.01" iyz="0" izz="0.01"/>
        </inertial>
        <visual>
            <origin rpy="0 0 0" xyz="0 0 0"/>
            <material name="Blue"/>
            <geometry>
                <box size="0.003 0.003 0.0047"/>
            </geometry>
        </visual>
        <collision>
            <origin rpy="0 0 0" xyz="0 0 0"/>
            <material name="Blue"/>
            <geometry>
                <box size="0.003 0.003 0.0047"/>
            </geometry>
        </collision>
    </link>
    <joint name="bh_link1_sensor19_joint" type="fixed">
        <origin rpy="0 0 0" xyz="0.005 0.05425 -0.005175"/>
        <parent link="bh_finger_14_link"/>
        <child link="bh_link1_sensor19_link"/>
    </joint>
    <link name="bh_link1_sensor19_link">
        <inertial>
            <mass value="0.1"/>
            <origin rpy="0 0 0" xyz="0 0 0"/>
            <inertia ixx="0.01" ixy="0" ixz="0" iyy="0.01" iyz="0" izz="0.01"/>
        </inertial>
        <visual>
            <origin rpy="0 0 0" xyz="0 0 0"/>
            <material name="Blue"/>
            <geometry>
                <box size="0.0025 0.006 0.00465"/>
            </geometry>
        </visual>
        <collision>
            <origin rpy="0 0 0" xyz="0 0 0"/>
            <material name="Blue"/>
            <geometry>
                <box size="0.0025 0.006 0.00465"/>
            </geometry>
        </collision>
    </link>
    <joint name="bh_link1_sensor20_joint" type="fixed">
        <origin rpy="0 0 0" xyz="0.005 0.05425 0.0"/>
        <parent link="bh_finger_14_link"/>
        <child link="bh_link1_sensor20_link"/>
    </joint>
    <link name="bh_link1_sensor20_link">
        <inertial>
            <mass value="0.1"/>
            <origin rpy="0 0 0" xyz="0 0 0"/>
            <inertia ixx="0.01" ixy="0" ixz="0" iyy="0.01" iyz="0" izz="0.01"/>
        </inertial>
        <visual>
            <origin rpy="0 0 0" xyz="0 0 0"/>
            <material name="Blue"/>
            <geometry>
                <box size="0.0025 0.006 0.0047"/>
            </geometry>
        </visual>
        <collision>
            <origin rpy="0 0 0" xyz="0 0 0"/>
            <material name="Blue"/>
            <geometry>
                <box size="0.0025 0.006 0.0047"/>
            </geometry>
        </collision>
    </link>
    <joint name="bh_link1_sensor21_joint" type="fixed">
        <origin rpy="0 0 0" xyz="0.005 0.05425 0.0052"/>
        <parent link="bh_finger_14_link"/>
        <child link="bh_link1_sensor21_link"/>
    </joint>
    <link name="bh_link1_sensor21_link">
        <inertial>
            <mass value="0.1"/>
            <origin rpy="0 0 0" xyz="0 0 0"/>
            <inertia ixx="0.01" ixy="0" ixz="0" iyy="0.01" iyz="0" izz="0.01"/>
        </inertial>
        <visual>
            <origin rpy="0 0 0" xyz="0 0 0"/>
            <material name="Blue"/>
            <geometry>
                <box size="0.0025 0.006 0.0047"/>
            </geometry>
        </visual>
        <collision>
            <origin rpy="0 0 0" xyz="0 0 0"/>
            <material name="Blue"/>
            <geometry>
                <box size="0.0025 0.006 0.0047"/>
            </geometry>
        </collision>
    </link>
    <joint name="bh_link1_sensor22_joint" type="fixed">
        <origin rpy="0 0 0" xyz="0.003 0.056625 -0.005175"/>
        <parent link="bh_finger_14_link"/>
        <child link="bh_link1_sensor22_link"/>
    </joint>
    <link name="bh_link1_sensor22_link">
        <inertial>
            <mass value="0.1"/>
            <origin rpy="0 0 0" xyz="0 0 0"/>
            <inertia ixx="0.01" ixy="0" ixz="0" iyy="0.01" iyz="0" izz="0.01"/>
        </inertial>
        <visual>
            <origin rpy="0 0 0" xyz="0 0 0"/>
            <material name="Blue"/>
            <geometry>
                <box size="0.00175 0.005 0.00465"/>
            </geometry>
        </visual>
        <collision>
            <origin rpy="0 0 0" xyz="0 0 0"/>
            <material name="Blue"/>
            <geometry>
                <box size="0.00175 0.005 0.00465"/>
            </geometry>
        </collision>
    </link>
    <joint name="bh_link1_sensor23_joint" type="fixed">
        <origin rpy="0 0 0" xyz="0.003 0.056625 0.0"/>
        <parent link="bh_finger_14_link"/>
        <child link="bh_link1_sensor23_link"/>
    </joint>
    <link name="bh_link1_sensor23_link">
        <inertial>
            <mass value="0.1"/>
            <origin rpy="0 0 0" xyz="0 0 0"/>
            <inertia ixx="0.01" ixy="0" ixz="0" iyy="0.01" iyz="0" izz="0.01"/>
        </inertial>
        <visual>
            <origin rpy="0 0 0" xyz="0 0 0"/>
            <material name="Blue"/>
            <geometry>
                <box size="0.00175 0.005 0.0047"/>
            </geometry>
        </visual>
        <collision>
            <origin rpy="0 0 0" xyz="0 0 0"/>
            <material name="Blue"/>
            <geometry>
                <box size="0.00175 0.005 0.0047"/>
            </geometry>
        </collision>
    </link>
    <joint name="bh_link1_sensor24_joint" type="fixed">
        <origin rpy="0 0 0" xyz="0.003 0.056625 0.0052"/>
        <parent link="bh_finger_14_link"/>
        <child link="bh_link1_sensor24_link"/>
    </joint>
    <link name="bh_link1_sensor24_link">
        <inertial>
            <mass value="0.1"/>
            <origin rpy="0 0 0" xyz="0 0 0"/>
            <inertia ixx="0.01" ixy="0" ixz="0" iyy="0.01" iyz="0" izz="0.01"/>
        </inertial>
        <visual>
            <origin rpy="0 0 0" xyz="0 0 0"/>
            <material name="Blue"/>
            <geometry>
                <box size="0.00175 0.005 0.0047"/>
            </geometry>
        </visual>
        <collision>
            <origin rpy="0 0 0" xyz="0 0 0"/>
            <material name="Blue"/>
            <geometry>
                <box size="0.00175 0.005 0.0047"/>
            </geometry>
        </collision>
    </link>
    <joint name="bh_link2_sensor1_joint" type="fixed">
        <origin rpy="0 0 0" xyz="0.0105 0.02225 -0.005175"/>
        <parent link="bh_finger_24_link"/>
        <child link="bh_link2_sensor1_link"/>
    </joint>
    <link name="bh_link2_sensor1_link">
        <inertial>
            <mass value="0.1"/>
            <origin rpy="0 0 0" xyz="0 0 0"/>
            <inertia ixx="0.01" ixy="0" ixz="0" iyy="0.01" iyz="0" izz="0.01"/>
        </inertial>
        <visual>
            <origin rpy="0 0 0" xyz="0 0 0"/>
            <material name="Blue"/>
            <geometry>
                <box size="0.0055 0.003 0.00465"/>
            </geometry>
        </visual>
        <collision>
            <origin rpy="0 0 0" xyz="0 0 0"/>
            <material name="Blue"/>
            <geometry>
                <box size="0.0055 0.003 0.00465"/>
            </geometry>
        </collision>
    </link>
    <joint name="bh_link2_sensor2_joint" type="fixed">
        <origin rpy="0 0 0" xyz="0.0105 0.02225 0.0"/>
        <parent link="bh_finger_24_link"/>
        <child link="bh_link2_sensor2_link"/>
    </joint>
    <link name="bh_link2_sensor2_link">
        <inertial>
            <mass value="0.1"/>
            <origin rpy="0 0 0" xyz="0 0 0"/>
            <inertia ixx="0.01" ixy="0" ixz="0" iyy="0.01" iyz="0" izz="0.01"/>
        </inertial>
        <visual>
            <origin rpy="0 0 0" xyz="0 0 0"/>
            <material name="Blue"/>
            <geometry>
                <box size="0.0055 0.003 0.0047"/>
            </geometry>
        </visual>
        <collision>
            <origin rpy="0 0 0" xyz="0 0 0"/>
            <material name="Blue"/>
            <geometry>
                <box size="0.0055 0.003 0.0047"/>
            </geometry>
        </collision>
    </link>
    <joint name="bh_link2_sensor3_joint" type="fixed">
        <origin rpy="0 0 0" xyz="0.0105 0.02225 0.0052"/>
        <parent link="bh_finger_24_link"/>
        <child link="bh_link2_sensor3_link"/>
    </joint>
    <link name="bh_link2_sensor3_link">
        <inertial>
            <mass value="0.1"/>
            <origin rpy="0 0 0" xyz="0 0 0"/>
            <inertia ixx="0.01" ixy="0" ixz="0" iyy="0.01" iyz="0" izz="0.01"/>
        </inertial>
        <visual>
            <origin rpy="0 0 0" xyz="0 0 0"/>
            <material name="Blue"/>
            <geometry>
                <box size="0.0055 0.003 0.0047"/>
            </geometry>
        </visual>
        <collision>
            <origin rpy="0 0 0" xyz="0 0 0"/>
            <material name="Blue"/>
            <geometry>
                <box size="0.0055 0.003 0.0047"/>
            </geometry>
        </collision>
    </link>
    <joint name="bh_link2_sensor4_joint" type="fixed">
        <origin rpy="0 0 0" xyz="0.0105 0.02825 -0.005175"/>
        <parent link="bh_finger_24_link"/>
        <child link="bh_link2_sensor4_link"/>
    </joint>
    <link name="bh_link2_sensor4_link">
        <inertial>
            <mass value="0.1"/>
            <origin rpy="0 0 0" xyz="0 0 0"/>
            <inertia ixx="0.01" ixy="0" ixz="0" iyy="0.01" iyz="0" izz="0.01"/>
        </inertial>
        <visual>
            <origin rpy="0 0 0" xyz="0 0 0"/>
            <material name="Blue"/>
            <geometry>
                <box size="0.0055 0.003 0.00465"/>
            </geometry>
        </visual>
        <collision>
            <origin rpy="0 0 0" xyz="0 0 0"/>
            <material name="Blue"/>
            <geometry>
                <box size="0.0055 0.003 0.00465"/>
            </geometry>
        </collision>
    </link>
    <joint name="bh_link2_sensor5_joint" type="fixed">
        <origin rpy="0 0 0" xyz="0.0105 0.02825 0.0"/>
        <parent link="bh_finger_24_link"/>
        <child link="bh_link2_sensor5_link"/>
    </joint>
    <link name="bh_link2_sensor5_link">
        <inertial>
            <mass value="0.1"/>
            <origin rpy="0 0 0" xyz="0 0 0"/>
            <inertia ixx="0.01" ixy="0" ixz="0" iyy="0.01" iyz="0" izz="0.01"/>
        </inertial>
        <visual>
            <origin rpy="0 0 0" xyz="0 0 0"/>
            <material name="Blue"/>
            <geometry>
                <box size="0.0055 0.003 0.0047"/>
            </geometry>
        </visual>
        <collision>
            <origin rpy="0 0 0" xyz="0 0 0"/>
            <material name="Blue"/>
            <geometry>
                <box size="0.0055 0.003 0.0047"/>
            </geometry>
        </collision>
    </link>
    <joint name="bh_link2_sensor6_joint" type="fixed">
        <origin rpy="0 0 0" xyz="0.0105 0.02825 0.0052"/>
        <parent link="bh_finger_24_link"/>
        <child link="bh_link2_sensor6_link"/>
    </joint>
    <link name="bh_link2_sensor6_link">
        <inertial>
            <mass value="0.1"/>
            <origin rpy="0 0 0" xyz="0 0 0"/>
            <inertia ixx="0.01" ixy="0" ixz="0" iyy="0.01" iyz="0" izz="0.01"/>
        </inertial>
        <visual>
            <origin rpy="0 0 0" xyz="0 0 0"/>
            <material name="Blue"/>
            <geometry>
                <box size="0.0055 0.003 0.0047"/>
            </geometry>
        </visual>
        <collision>
            <origin rpy="0 0 0" xyz="0 0 0"/>
            <material name="Blue"/>
            <geometry>
                <box size="0.0055 0.003 0.0047"/>
            </geometry>
        </collision>
    </link>
    <joint name="bh_link2_sensor7_joint" type="fixed">
        <origin rpy="0 0 0" xyz="0.0105 0.03425 -0.005175"/>
        <parent link="bh_finger_24_link"/>
        <child link="bh_link2_sensor7_link"/>
    </joint>
    <link name="bh_link2_sensor7_link">
        <inertial>
            <mass value="0.1"/>
            <origin rpy="0 0 0" xyz="0 0 0"/>
            <inertia ixx="0.01" ixy="0" ixz="0" iyy="0.01" iyz="0" izz="0.01"/>
        </inertial>
        <visual>
            <origin rpy="0 0 0" xyz="0 0 0"/>
            <material name="Blue"/>
            <geometry>
                <box size="0.0055 0.003 0.00465"/>
            </geometry>
        </visual>
        <collision>
            <origin rpy="0 0 0" xyz="0 0 0"/>
            <material name="Blue"/>
            <geometry>
                <box size="0.0055 0.003 0.00465"/>
            </geometry>
        </collision>
    </link>
    <joint name="bh_link2_sensor8_joint" type="fixed">
        <origin rpy="0 0 0" xyz="0.0105 0.03425 0.0"/>
        <parent link="bh_finger_24_link"/>
        <child link="bh_link2_sensor8_link"/>
    </joint>
    <link name="bh_link2_sensor8_link">
        <inertial>
            <mass value="0.1"/>
            <origin rpy="0 0 0" xyz="0 0 0"/>
            <inertia ixx="0.01" ixy="0" ixz="0" iyy="0.01" iyz="0" izz="0.01"/>
        </inertial>
        <visual>
            <origin rpy="0 0 0" xyz="0 0 0"/>
            <material name="Blue"/>
            <geometry>
                <box size="0.0055 0.003 0.0047"/>
            </geometry>
        </visual>
        <collision>
            <origin rpy="0 0 0" xyz="0 0 0"/>
            <material name="Blue"/>
            <geometry>
                <box size="0.0055 0.003 0.0047"/>
            </geometry>
        </collision>
    </link>
    <joint name="bh_link2_sensor9_joint" type="fixed">
        <origin rpy="0 0 0" xyz="0.0105 0.03425 0.0052"/>
        <parent link="bh_finger_24_link"/>
        <child link="bh_link2_sensor9_link"/>
    </joint>
    <link name="bh_link2_sensor9_link">
        <inertial>
            <mass value="0.1"/>
            <origin rpy="0 0 0" xyz="0 0 0"/>
            <inertia ixx="0.01" ixy="0" ixz="0" iyy="0.01" iyz="0" izz="0.01"/>
        </inertial>
        <visual>
            <origin rpy="0 0 0" xyz="0 0 0"/>
            <material name="Blue"/>
            <geometry>
                <box size="0.0055 0.003 0.0047"/>
            </geometry>
        </visual>
        <collision>
            <origin rpy="0 0 0" xyz="0 0 0"/>
            <material name="Blue"/>
            <geometry>
                <box size="0.0055 0.003 0.0047"/>
            </geometry>
        </collision>
    </link>
    <joint name="bh_link2_sensor10_joint" type="fixed">
        <origin rpy="0 0 0" xyz="0.0105 0.04025 -0.005175"/>
        <parent link="bh_finger_24_link"/>
        <child link="bh_link2_sensor10_link"/>
    </joint>
    <link name="bh_link2_sensor10_link">
        <inertial>
            <mass value="0.1"/>
            <origin rpy="0 0 0" xyz="0 0 0"/>
            <inertia ixx="0.01" ixy="0" ixz="0" iyy="0.01" iyz="0" izz="0.01"/>
        </inertial>
        <visual>
            <origin rpy="0 0 0" xyz="0 0 0"/>
            <material name="Blue"/>
            <geometry>
                <box size="0.0055 0.003 0.00465"/>
            </geometry>
        </visual>
        <collision>
            <origin rpy="0 0 0" xyz="0 0 0"/>
            <material name="Blue"/>
            <geometry>
                <box size="0.0055 0.003 0.00465"/>
            </geometry>
        </collision>
    </link>
    <joint name="bh_link2_sensor11_joint" type="fixed">
        <origin rpy="0 0 0" xyz="0.0105 0.04025 0.0"/>
        <parent link="bh_finger_24_link"/>
        <child link="bh_link2_sensor11_link"/>
    </joint>
    <link name="bh_link2_sensor11_link">
        <inertial>
            <mass value="0.1"/>
            <origin rpy="0 0 0" xyz="0 0 0"/>
            <inertia ixx="0.01" ixy="0" ixz="0" iyy="0.01" iyz="0" izz="0.01"/>
        </inertial>
        <visual>
            <origin rpy="0 0 0" xyz="0 0 0"/>
            <material name="Blue"/>
            <geometry>
                <box size="0.0055 0.003 0.0047"/>
            </geometry>
        </visual>
        <collision>
            <origin rpy="0 0 0" xyz="0 0 0"/>
            <material name="Blue"/>
            <geometry>
                <box size="0.0055 0.003 0.0047"/>
            </geometry>
        </collision>
    </link>
    <joint name="bh_link2_sensor12_joint" type="fixed">
        <origin rpy="0 0 0" xyz="0.0105 0.04025 0.0052"/>
        <parent link="bh_finger_24_link"/>
        <child link="bh_link2_sensor12_link"/>
    </joint>
    <link name="bh_link2_sensor12_link">
        <inertial>
            <mass value="0.1"/>
            <origin rpy="0 0 0" xyz="0 0 0"/>
            <inertia ixx="0.01" ixy="0" ixz="0" iyy="0.01" iyz="0" izz="0.01"/>
        </inertial>
        <visual>
            <origin rpy="0 0 0" xyz="0 0 0"/>
            <material name="Blue"/>
            <geometry>
                <box size="0.0055 0.003 0.0047"/>
            </geometry>
        </visual>
        <collision>
            <origin rpy="0 0 0" xyz="0 0 0"/>
            <material name="Blue"/>
            <geometry>
                <box size="0.0055 0.003 0.0047"/>
            </geometry>
        </collision>
    </link>
    <joint name="bh_link2_sensor13_joint" type="fixed">
        <origin rpy="0 0 0" xyz="0.0095 0.04625 -0.005175"/>
        <parent link="bh_finger_24_link"/>
        <child link="bh_link2_sensor13_link"/>
    </joint>
    <link name="bh_link2_sensor13_link">
        <inertial>
            <mass value="0.1"/>
            <origin rpy="0 0 0" xyz="0 0 0"/>
            <inertia ixx="0.01" ixy="0" ixz="0" iyy="0.01" iyz="0" izz="0.01"/>
        </inertial>
        <visual>
            <origin rpy="0 0 0" xyz="0 0 0"/>
            <material name="Blue"/>
            <geometry>
                <box size="0.0055 0.003 0.00465"/>
            </geometry>
        </visual>
        <collision>
            <origin rpy="0 0 0" xyz="0 0 0"/>
            <material name="Blue"/>
            <geometry>
                <box size="0.0055 0.003 0.00465"/>
            </geometry>
        </collision>
    </link>
    <joint name="bh_link2_sensor14_joint" type="fixed">
        <origin rpy="0 0 0" xyz="0.0095 0.04625 0.0"/>
        <parent link="bh_finger_24_link"/>
        <child link="bh_link2_sensor14_link"/>
    </joint>
    <link name="bh_link2_sensor14_link">
        <inertial>
            <mass value="0.1"/>
            <origin rpy="0 0 0" xyz="0 0 0"/>
            <inertia ixx="0.01" ixy="0" ixz="0" iyy="0.01" iyz="0" izz="0.01"/>
        </inertial>
        <visual>
            <origin rpy="0 0 0" xyz="0 0 0"/>
            <material name="Blue"/>
            <geometry>
                <box size="0.0055 0.003 0.0047"/>
            </geometry>
        </visual>
        <collision>
            <origin rpy="0 0 0" xyz="0 0 0"/>
            <material name="Blue"/>
            <geometry>
                <box size="0.0055 0.003 0.0047"/>
            </geometry>
        </collision>
    </link>
    <joint name="bh_link2_sensor15_joint" type="fixed">
        <origin rpy="0 0 0" xyz="0.0095 0.04625 0.0052"/>
        <parent link="bh_finger_24_link"/>
        <child link="bh_link2_sensor15_link"/>
    </joint>
    <link name="bh_link2_sensor15_link">
        <inertial>
            <mass value="0.1"/>
            <origin rpy="0 0 0" xyz="0 0 0"/>
            <inertia ixx="0.01" ixy="0" ixz="0" iyy="0.01" iyz="0" izz="0.01"/>
        </inertial>
        <visual>
            <origin rpy="0 0 0" xyz="0 0 0"/>
            <material name="Blue"/>
            <geometry>
                <box size="0.0055 0.003 0.0047"/>
            </geometry>
        </visual>
        <collision>
            <origin rpy="0 0 0" xyz="0 0 0"/>
            <material name="Blue"/>
            <geometry>
                <box size="0.0055 0.003 0.0047"/>
            </geometry>
        </collision>
    </link>
    <joint name="bh_link2_sensor16_joint" type="fixed">
        <origin rpy="0 0 0" xyz="0.008 0.051 -0.005175"/>
        <parent link="bh_finger_24_link"/>
        <child link="bh_link2_sensor16_link"/>
    </joint>
    <link name="bh_link2_sensor16_link">
        <inertial>
            <mass value="0.1"/>
            <origin rpy="0 0 0" xyz="0 0 0"/>
            <inertia ixx="0.01" ixy="0" ixz="0" iyy="0.01" iyz="0" izz="0.01"/>
        </inertial>
        <visual>
            <origin rpy="0 0 0" xyz="0 0 0"/>
            <material name="Blue"/>
            <geometry>
                <box size="0.003 0.003 0.00465"/>
            </geometry>
        </visual>
        <collision>
            <origin rpy="0 0 0" xyz="0 0 0"/>
            <material name="Blue"/>
            <geometry>
                <box size="0.003 0.003 0.00465"/>
            </geometry>
        </collision>
    </link>
    <joint name="bh_link2_sensor17_joint" type="fixed">
        <origin rpy="0 0 0" xyz="0.008 0.051 0.0"/>
        <parent link="bh_finger_24_link"/>
        <child link="bh_link2_sensor17_link"/>
    </joint>
    <link name="bh_link2_sensor17_link">
        <inertial>
            <mass value="0.1"/>
            <origin rpy="0 0 0" xyz="0 0 0"/>
            <inertia ixx="0.01" ixy="0" ixz="0" iyy="0.01" iyz="0" izz="0.01"/>
        </inertial>
        <visual>
            <origin rpy="0 0 0" xyz="0 0 0"/>
            <material name="Blue"/>
            <geometry>
                <box size="0.003 0.003 0.0047"/>
            </geometry>
        </visual>
        <collision>
            <origin rpy="0 0 0" xyz="0 0 0"/>
            <material name="Blue"/>
            <geometry>
                <box size="0.003 0.003 0.0047"/>
            </geometry>
        </collision>
    </link>
    <joint name="bh_link2_sensor18_joint" type="fixed">
        <origin rpy="0 0 0" xyz="0.008 0.051 0.0052"/>
        <parent link="bh_finger_24_link"/>
        <child link="bh_link2_sensor18_link"/>
    </joint>
    <link name="bh_link2_sensor18_link">
        <inertial>
            <mass value="0.1"/>
            <origin rpy="0 0 0" xyz="0 0 0"/>
            <inertia ixx="0.01" ixy="0" ixz="0" iyy="0.01" iyz="0" izz="0.01"/>
        </inertial>
        <visual>
            <origin rpy="0 0 0" xyz="0 0 0"/>
            <material name="Blue"/>
            <geometry>
                <box size="0.003 0.003 0.0047"/>
            </geometry>
        </visual>
        <collision>
            <origin rpy="0 0 0" xyz="0 0 0"/>
            <material name="Blue"/>
            <geometry>
                <box size="0.003 0.003 0.0047"/>
            </geometry>
        </collision>
    </link>
    <joint name="bh_link2_sensor19_joint" type="fixed">
        <origin rpy="0 0 0" xyz="0.005 0.05425 -0.005175"/>
        <parent link="bh_finger_24_link"/>
        <child link="bh_link2_sensor19_link"/>
    </joint>
    <link name="bh_link2_sensor19_link">
        <inertial>
            <mass value="0.1"/>
            <origin rpy="0 0 0" xyz="0 0 0"/>
            <inertia ixx="0.01" ixy="0" ixz="0" iyy="0.01" iyz="0" izz="0.01"/>
        </inertial>
        <visual>
            <origin rpy="0 0 0" xyz="0 0 0"/>
            <material name="Blue"/>
            <geometry>
                <box size="0.0025 0.006 0.00465"/>
            </geometry>
        </visual>
        <collision>
            <origin rpy="0 0 0" xyz="0 0 0"/>
            <material name="Blue"/>
            <geometry>
                <box size="0.0025 0.006 0.00465"/>
            </geometry>
        </collision>
    </link>
    <joint name="bh_link2_sensor20_joint" type="fixed">
        <origin rpy="0 0 0" xyz="0.005 0.05425 0.0"/>
        <parent link="bh_finger_24_link"/>
        <child link="bh_link2_sensor20_link"/>
    </joint>
    <link name="bh_link2_sensor20_link">
        <inertial>
            <mass value="0.1"/>
            <origin rpy="0 0 0" xyz="0 0 0"/>
            <inertia ixx="0.01" ixy="0" ixz="0" iyy="0.01" iyz="0" izz="0.01"/>
        </inertial>
        <visual>
            <origin rpy="0 0 0" xyz="0 0 0"/>
            <material name="Blue"/>
            <geometry>
                <box size="0.0025 0.006 0.0047"/>
            </geometry>
        </visual>
        <collision>
            <origin rpy="0 0 0" xyz="0 0 0"/>
            <material name="Blue"/>
            <geometry>
                <box size="0.0025 0.006 0.0047"/>
            </geometry>
        </collision>
    </link>
    <joint name="bh_link2_sensor21_joint" type="fixed">
        <origin rpy="0 0 0" xyz="0.005 0.05425 0.0052"/>
        <parent link="bh_finger_24_link"/>
        <child link="bh_link2_sensor21_link"/>
    </joint>
    <link name="bh_link2_sensor21_link">
        <inertial>
            <mass value="0.1"/>
            <origin rpy="0 0 0" xyz="0 0 0"/>
            <inertia ixx="0.01" ixy="0" ixz="0" iyy="0.01" iyz="0" izz="0.01"/>
        </inertial>
        <visual>
            <origin rpy="0 0 0" xyz="0 0 0"/>
            <material name="Blue"/>
            <geometry>
                <box size="0.0025 0.006 0.0047"/>
            </geometry>
        </visual>
        <collision>
            <origin rpy="0 0 0" xyz="0 0 0"/>
            <material name="Blue"/>
            <geometry>
                <box size="0.0025 0.006 0.0047"/>
            </geometry>
        </collision>
    </link>
    <joint name="bh_link2_sensor22_joint" type="fixed">
        <origin rpy="0 0 0" xyz="0.003 0.056625 -0.005175"/>
        <parent link="bh_finger_24_link"/>
        <child link="bh_link2_sensor22_link"/>
    </joint>
    <link name="bh_link2_sensor22_link">
        <inertial>
            <mass value="0.1"/>
            <origin rpy="0 0 0" xyz="0 0 0"/>
            <inertia ixx="0.01" ixy="0" ixz="0" iyy="0.01" iyz="0" izz="0.01"/>
        </inertial>
        <visual>
            <origin rpy="0 0 0" xyz="0 0 0"/>
            <material name="Blue"/>
            <geometry>
                <box size="0.00175 0.005 0.00465"/>
            </geometry>
        </visual>
        <collision>
            <origin rpy="0 0 0" xyz="0 0 0"/>
            <material name="Blue"/>
            <geometry>
                <box size="0.00175 0.005 0.00465"/>
            </geometry>
        </collision>
    </link>
    <joint name="bh_link2_sensor23_joint" type="fixed">
        <origin rpy="0 0 0" xyz="0.003 0.056625 0.0"/>
        <parent link="bh_finger_24_link"/>
        <child link="bh_link2_sensor23_link"/>
    </joint>
    <link name="bh_link2_sensor23_link">
        <inertial>
            <mass value="0.1"/>
            <origin rpy="0 0 0" xyz="0 0 0"/>
            <inertia ixx="0.01" ixy="0" ixz="0" iyy="0.01" iyz="0" izz="0.01"/>
        </inertial>
        <visual>
            <origin rpy="0 0 0" xyz="0 0 0"/>
            <material name="Blue"/>
            <geometry>
                <box size="0.00175 0.005 0.0047"/>
            </geometry>
        </visual>
        <collision>
            <origin rpy="0 0 0" xyz="0 0 0"/>
            <material name="Blue"/>
            <geometry>
                <box size="0.00175 0.005 0.0047"/>
            </geometry>
        </collision>
    </link>
    <joint name="bh_link2_sensor24_joint" type="fixed">
        <origin rpy="0 0 0" xyz="0.003 0.056625 0.0052"/>
        <parent link="bh_finger_24_link"/>
        <child link="bh_link2_sensor24_link"/>
    </joint>
    <link name="bh_link2_sensor24_link">
        <inertial>
            <mass value="0.1"/>
            <origin rpy="0 0 0" xyz="0 0 0"/>
            <inertia ixx="0.01" ixy="0" ixz="0" iyy="0.01" iyz="0" izz="0.01"/>
        </inertial>
        <visual>
            <origin rpy="0 0 0" xyz="0 0 0"/>
            <material name="Blue"/>
            <geometry>
                <box size="0.00175 0.005 0.0047"/>
            </geometry>
        </visual>
        <collision>
            <origin rpy="0 0 0" xyz="0 0 0"/>
            <material name="Blue"/>
            <geometry>
                <box size="0.00175 0.005 0.0047"/>
            </geometry>
        </collision>
    </link>
    <joint name="bh_link3_sensor1_joint" type="fixed">
        <origin rpy="0 0 0" xyz="0.0105 0.02225 -0.005175"/>
        <parent link="bh_finger_34_link"/>
        <child link="bh_link3_sensor1_link"/>
    </joint>
    <link name="bh_link3_sensor1_link">
        <inertial>
            <mass value="0.1"/>
            <origin rpy="0 0 0" xyz="0 0 0"/>
            <inertia ixx="0.01" ixy="0" ixz="0" iyy="0.01" iyz="0" izz="0.01"/>
        </inertial>
        <visual>
            <origin rpy="0 0 0" xyz="0 0 0"/>
            <material name="Blue"/>
            <geometry>
                <box size="0.0055 0.003 0.00465"/>
            </geometry>
        </visual>
        <collision>
            <origin rpy="0 0 0" xyz="0 0 0"/>
            <material name="Blue"/>
            <geometry>
                <box size="0.0055 0.003 0.00465"/>
            </geometry>
        </collision>
    </link>
    <joint name="bh_link3_sensor2_joint" type="fixed">
        <origin rpy="0 0 0" xyz="0.0105 0.02225 0.0"/>
        <parent link="bh_finger_34_link"/>
        <child link="bh_link3_sensor2_link"/>
    </joint>
    <link name="bh_link3_sensor2_link">
        <inertial>
            <mass value="0.1"/>
            <origin rpy="0 0 0" xyz="0 0 0"/>
            <inertia ixx="0.01" ixy="0" ixz="0" iyy="0.01" iyz="0" izz="0.01"/>
        </inertial>
        <visual>
            <origin rpy="0 0 0" xyz="0 0 0"/>
            <material name="Blue"/>
            <geometry>
                <box size="0.0055 0.003 0.0047"/>
            </geometry>
        </visual>
        <collision>
            <origin rpy="0 0 0" xyz="0 0 0"/>
            <material name="Blue"/>
            <geometry>
                <box size="0.0055 0.003 0.0047"/>
            </geometry>
        </collision>
    </link>
    <joint name="bh_link3_sensor3_joint" type="fixed">
        <origin rpy="0 0 0" xyz="0.0105 0.02225 0.0052"/>
        <parent link="bh_finger_34_link"/>
        <child link="bh_link3_sensor3_link"/>
    </joint>
    <link name="bh_link3_sensor3_link">
        <inertial>
            <mass value="0.1"/>
            <origin rpy="0 0 0" xyz="0 0 0"/>
            <inertia ixx="0.01" ixy="0" ixz="0" iyy="0.01" iyz="0" izz="0.01"/>
        </inertial>
        <visual>
            <origin rpy="0 0 0" xyz="0 0 0"/>
            <material name="Blue"/>
            <geometry>
                <box size="0.0055 0.003 0.0047"/>
            </geometry>
        </visual>
        <collision>
            <origin rpy="0 0 0" xyz="0 0 0"/>
            <material name="Blue"/>
            <geometry>
                <box size="0.0055 0.003 0.0047"/>
            </geometry>
        </collision>
    </link>
    <joint name="bh_link3_sensor4_joint" type="fixed">
        <origin rpy="0 0 0" xyz="0.0105 0.02825 -0.005175"/>
        <parent link="bh_finger_34_link"/>
        <child link="bh_link3_sensor4_link"/>
    </joint>
    <link name="bh_link3_sensor4_link">
        <inertial>
            <mass value="0.1"/>
            <origin rpy="0 0 0" xyz="0 0 0"/>
            <inertia ixx="0.01" ixy="0" ixz="0" iyy="0.01" iyz="0" izz="0.01"/>
        </inertial>
        <visual>
            <origin rpy="0 0 0" xyz="0 0 0"/>
            <material name="Blue"/>
            <geometry>
                <box size="0.0055 0.003 0.00465"/>
            </geometry>
        </visual>
        <collision>
            <origin rpy="0 0 0" xyz="0 0 0"/>
            <material name="Blue"/>
            <geometry>
                <box size="0.0055 0.003 0.00465"/>
            </geometry>
        </collision>
    </link>
    <joint name="bh_link3_sensor5_joint" type="fixed">
        <origin rpy="0 0 0" xyz="0.0105 0.02825 0.0"/>
        <parent link="bh_finger_34_link"/>
        <child link="bh_link3_sensor5_link"/>
    </joint>
    <link name="bh_link3_sensor5_link">
        <inertial>
            <mass value="0.1"/>
            <origin rpy="0 0 0" xyz="0 0 0"/>
            <inertia ixx="0.01" ixy="0" ixz="0" iyy="0.01" iyz="0" izz="0.01"/>
        </inertial>
        <visual>
            <origin rpy="0 0 0" xyz="0 0 0"/>
            <material name="Blue"/>
            <geometry>
                <box size="0.0055 0.003 0.0047"/>
            </geometry>
        </visual>
        <collision>
            <origin rpy="0 0 0" xyz="0 0 0"/>
            <material name="Blue"/>
            <geometry>
                <box size="0.0055 0.003 0.0047"/>
            </geometry>
        </collision>
    </link>
    <joint name="bh_link3_sensor6_joint" type="fixed">
        <origin rpy="0 0 0" xyz="0.0105 0.02825 0.0052"/>
        <parent link="bh_finger_34_link"/>
        <child link="bh_link3_sensor6_link"/>
    </joint>
    <link name="bh_link3_sensor6_link">
        <inertial>
            <mass value="0.1"/>
            <origin rpy="0 0 0" xyz="0 0 0"/>
            <inertia ixx="0.01" ixy="0" ixz="0" iyy="0.01" iyz="0" izz="0.01"/>
        </inertial>
        <visual>
            <origin rpy="0 0 0" xyz="0 0 0"/>
            <material name="Blue"/>
            <geometry>
                <box size="0.0055 0.003 0.0047"/>
            </geometry>
        </visual>
        <collision>
            <origin rpy="0 0 0" xyz="0 0 0"/>
            <material name="Blue"/>
            <geometry>
                <box size="0.0055 0.003 0.0047"/>
            </geometry>
        </collision>
    </link>
    <joint name="bh_link3_sensor7_joint" type="fixed">
        <origin rpy="0 0 0" xyz="0.0105 0.03425 -0.005175"/>
        <parent link="bh_finger_34_link"/>
        <child link="bh_link3_sensor7_link"/>
    </joint>
    <link name="bh_link3_sensor7_link">
        <inertial>
            <mass value="0.1"/>
            <origin rpy="0 0 0" xyz="0 0 0"/>
            <inertia ixx="0.01" ixy="0" ixz="0" iyy="0.01" iyz="0" izz="0.01"/>
        </inertial>
        <visual>
            <origin rpy="0 0 0" xyz="0 0 0"/>
            <material name="Blue"/>
            <geometry>
                <box size="0.0055 0.003 0.00465"/>
            </geometry>
        </visual>
        <collision>
            <origin rpy="0 0 0" xyz="0 0 0"/>
            <material name="Blue"/>
            <geometry>
                <box size="0.0055 0.003 0.00465"/>
            </geometry>
        </collision>
    </link>
    <joint name="bh_link3_sensor8_joint" type="fixed">
        <origin rpy="0 0 0" xyz="0.0105 0.03425 0.0"/>
        <parent link="bh_finger_34_link"/>
        <child link="bh_link3_sensor8_link"/>
    </joint>
    <link name="bh_link3_sensor8_link">
        <inertial>
            <mass value="0.1"/>
            <origin rpy="0 0 0" xyz="0 0 0"/>
            <inertia ixx="0.01" ixy="0" ixz="0" iyy="0.01" iyz="0" izz="0.01"/>
        </inertial>
        <visual>
            <origin rpy="0 0 0" xyz="0 0 0"/>
            <material name="Blue"/>
            <geometry>
                <box size="0.0055 0.003 0.0047"/>
            </geometry>
        </visual>
        <collision>
            <origin rpy="0 0 0" xyz="0 0 0"/>
            <material name="Blue"/>
            <geometry>
                <box size="0.0055 0.003 0.0047"/>
            </geometry>
        </collision>
    </link>
    <joint name="bh_link3_sensor9_joint" type="fixed">
        <origin rpy="0 0 0" xyz="0.0105 0.03425 0.0052"/>
        <parent link="bh_finger_34_link"/>
        <child link="bh_link3_sensor9_link"/>
    </joint>
    <link name="bh_link3_sensor9_link">
        <inertial>
            <mass value="0.1"/>
            <origin rpy="0 0 0" xyz="0 0 0"/>
            <inertia ixx="0.01" ixy="0" ixz="0" iyy="0.01" iyz="0" izz="0.01"/>
        </inertial>
        <visual>
            <origin rpy="0 0 0" xyz="0 0 0"/>
            <material name="Blue"/>
            <geometry>
                <box size="0.0055 0.003 0.0047"/>
            </geometry>
        </visual>
        <collision>
            <origin rpy="0 0 0" xyz="0 0 0"/>
            <material name="Blue"/>
            <geometry>
                <box size="0.0055 0.003 0.0047"/>
            </geometry>
        </collision>
    </link>
    <joint name="bh_link3_sensor10_joint" type="fixed">
        <origin rpy="0 0 0" xyz="0.0105 0.04025 -0.005175"/>
        <parent link="bh_finger_34_link"/>
        <child link="bh_link3_sensor10_link"/>
    </joint>
    <link name="bh_link3_sensor10_link">
        <inertial>
            <mass value="0.1"/>
            <origin rpy="0 0 0" xyz="0 0 0"/>
            <inertia ixx="0.01" ixy="0" ixz="0" iyy="0.01" iyz="0" izz="0.01"/>
        </inertial>
        <visual>
            <origin rpy="0 0 0" xyz="0 0 0"/>
            <material name="Blue"/>
            <geometry>
                <box size="0.0055 0.003 0.00465"/>
            </geometry>
        </visual>
        <collision>
            <origin rpy="0 0 0" xyz="0 0 0"/>
            <material name="Blue"/>
            <geometry>
                <box size="0.0055 0.003 0.00465"/>
            </geometry>
        </collision>
    </link>
    <joint name="bh_link3_sensor11_joint" type="fixed">
        <origin rpy="0 0 0" xyz="0.0105 0.04025 0.0"/>
        <parent link="bh_finger_34_link"/>
        <child link="bh_link3_sensor11_link"/>
    </joint>
    <link name="bh_link3_sensor11_link">
        <inertial>
            <mass value="0.1"/>
            <origin rpy="0 0 0" xyz="0 0 0"/>
            <inertia ixx="0.01" ixy="0" ixz="0" iyy="0.01" iyz="0" izz="0.01"/>
        </inertial>
        <visual>
            <origin rpy="0 0 0" xyz="0 0 0"/>
            <material name="Blue"/>
            <geometry>
                <box size="0.0055 0.003 0.0047"/>
            </geometry>
        </visual>
        <collision>
            <origin rpy="0 0 0" xyz="0 0 0"/>
            <material name="Blue"/>
            <geometry>
                <box size="0.0055 0.003 0.0047"/>
            </geometry>
        </collision>
    </link>
    <joint name="bh_link3_sensor12_joint" type="fixed">
        <origin rpy="0 0 0" xyz="0.0105 0.04025 0.0052"/>
        <parent link="bh_finger_34_link"/>
        <child link="bh_link3_sensor12_link"/>
    </joint>
    <link name="bh_link3_sensor12_link">
        <inertial>
            <mass value="0.1"/>
            <origin rpy="0 0 0" xyz="0 0 0"/>
            <inertia ixx="0.01" ixy="0" ixz="0" iyy="0.01" iyz="0" izz="0.01"/>
        </inertial>
        <visual>
            <origin rpy="0 0 0" xyz="0 0 0"/>
            <material name="Blue"/>
            <geometry>
                <box size="0.0055 0.003 0.0047"/>
            </geometry>
        </visual>
        <collision>
            <origin rpy="0 0 0" xyz="0 0 0"/>
            <material name="Blue"/>
            <geometry>
                <box size="0.0055 0.003 0.0047"/>
            </geometry>
        </collision>
    </link>
    <joint name="bh_link3_sensor13_joint" type="fixed">
        <origin rpy="0 0 0" xyz="0.0095 0.04625 -0.005175"/>
        <parent link="bh_finger_34_link"/>
        <child link="bh_link3_sensor13_link"/>
    </joint>
    <link name="bh_link3_sensor13_link">
        <inertial>
            <mass value="0.1"/>
            <origin rpy="0 0 0" xyz="0 0 0"/>
            <inertia ixx="0.01" ixy="0" ixz="0" iyy="0.01" iyz="0" izz="0.01"/>
        </inertial>
        <visual>
            <origin rpy="0 0 0" xyz="0 0 0"/>
            <material name="Blue"/>
            <geometry>
                <box size="0.0055 0.003 0.00465"/>
            </geometry>
        </visual>
        <collision>
            <origin rpy="0 0 0" xyz="0 0 0"/>
            <material name="Blue"/>
            <geometry>
                <box size="0.0055 0.003 0.00465"/>
            </geometry>
        </collision>
    </link>
    <joint name="bh_link3_sensor14_joint" type="fixed">
        <origin rpy="0 0 0" xyz="0.0095 0.04625 0.0"/>
        <parent link="bh_finger_34_link"/>
        <child link="bh_link3_sensor14_link"/>
    </joint>
    <link name="bh_link3_sensor14_link">
        <inertial>
            <mass value="0.1"/>
            <origin rpy="0 0 0" xyz="0 0 0"/>
            <inertia ixx="0.01" ixy="0" ixz="0" iyy="0.01" iyz="0" izz="0.01"/>
        </inertial>
        <visual>
            <origin rpy="0 0 0" xyz="0 0 0"/>
            <material name="Blue"/>
            <geometry>
                <box size="0.0055 0.003 0.0047"/>
            </geometry>
        </visual>
        <collision>
            <origin rpy="0 0 0" xyz="0 0 0"/>
            <material name="Blue"/>
            <geometry>
                <box size="0.0055 0.003 0.0047"/>
            </geometry>
        </collision>
    </link>
    <joint name="bh_link3_sensor15_joint" type="fixed">
        <origin rpy="0 0 0" xyz="0.0095 0.04625 0.0052"/>
        <parent link="bh_finger_34_link"/>
        <child link="bh_link3_sensor15_link"/>
    </joint>
    <link name="bh_link3_sensor15_link">
        <inertial>
            <mass value="0.1"/>
            <origin rpy="0 0 0" xyz="0 0 0"/>
            <inertia ixx="0.01" ixy="0" ixz="0" iyy="0.01" iyz="0" izz="0.01"/>
        </inertial>
        <visual>
            <origin rpy="0 0 0" xyz="0 0 0"/>
            <material name="Blue"/>
            <geometry>
                <box size="0.0055 0.003 0.0047"/>
            </geometry>
        </visual>
        <collision>
            <origin rpy="0 0 0" xyz="0 0 0"/>
            <material name="Blue"/>
            <geometry>
                <box size="0.0055 0.003 0.0047"/>
            </geometry>
        </collision>
    </link>
    <joint name="bh_link3_sensor16_joint" type="fixed">
        <origin rpy="0 0 0" xyz="0.008 0.051 -0.005175"/>
        <parent link="bh_finger_34_link"/>
        <child link="bh_link3_sensor16_link"/>
    </joint>
    <link name="bh_link3_sensor16_link">
        <inertial>
            <mass value="0.1"/>
            <origin rpy="0 0 0" xyz="0 0 0"/>
            <inertia ixx="0.01" ixy="0" ixz="0" iyy="0.01" iyz="0" izz="0.01"/>
        </inertial>
        <visual>
            <origin rpy="0 0 0" xyz="0 0 0"/>
            <material name="Blue"/>
            <geometry>
                <box size="0.003 0.003 0.00465"/>
            </geometry>
        </visual>
        <collision>
            <origin rpy="0 0 0" xyz="0 0 0"/>
            <material name="Blue"/>
            <geometry>
                <box size="0.003 0.003 0.00465"/>
            </geometry>
        </collision>
    </link>
    <joint name="bh_link3_sensor17_joint" type="fixed">
        <origin rpy="0 0 0" xyz="0.008 0.051 0.0"/>
        <parent link="bh_finger_34_link"/>
        <child link="bh_link3_sensor17_link"/>
    </joint>
    <link name="bh_link3_sensor17_link">
        <inertial>
            <mass value="0.1"/>
            <origin rpy="0 0 0" xyz="0 0 0"/>
            <inertia ixx="0.01" ixy="0" ixz="0" iyy="0.01" iyz="0" izz="0.01"/>
        </inertial>
        <visual>
            <origin rpy="0 0 0" xyz="0 0 0"/>
            <material name="Blue"/>
            <geometry>
                <box size="0.003 0.003 0.0047"/>
            </geometry>
        </visual>
        <collision>
            <origin rpy="0 0 0" xyz="0 0 0"/>
            <material name="Blue"/>
            <geometry>
                <box size="0.003 0.003 0.0047"/>
            </geometry>
        </collision>
    </link>
    <joint name="bh_link3_sensor18_joint" type="fixed">
        <origin rpy="0 0 0" xyz="0.008 0.051 0.0052"/>
        <parent link="bh_finger_34_link"/>
        <child link="bh_link3_sensor18_link"/>
    </joint>
    <link name="bh_link3_sensor18_link">
        <inertial>
            <mass value="0.1"/>
            <origin rpy="0 0 0" xyz="0 0 0"/>
            <inertia ixx="0.01" ixy="0" ixz="0" iyy="0.01" iyz="0" izz="0.01"/>
        </inertial>
        <visual>
            <origin rpy="0 0 0" xyz="0 0 0"/>
            <material name="Blue"/>
            <geometry>
                <box size="0.003 0.003 0.0047"/>
            </geometry>
        </visual>
        <collision>
            <origin rpy="0 0 0" xyz="0 0 0"/>
            <material name="Blue"/>
            <geometry>
                <box size="0.003 0.003 0.0047"/>
            </geometry>
        </collision>
    </link>
    <joint name="bh_link3_sensor19_joint" type="fixed">
        <origin rpy="0 0 0" xyz="0.005 0.05425 -0.005175"/>
        <parent link="bh_finger_34_link"/>
        <child link="bh_link3_sensor19_link"/>
    </joint>
    <link name="bh_link3_sensor19_link">
        <inertial>
            <mass value="0.1"/>
            <origin rpy="0 0 0" xyz="0 0 0"/>
            <inertia ixx="0.01" ixy="0" ixz="0" iyy="0.01" iyz="0" izz="0.01"/>
        </inertial>
        <visual>
            <origin rpy="0 0 0" xyz="0 0 0"/>
            <material name="Blue"/>
            <geometry>
                <box size="0.0025 0.006 0.00465"/>
            </geometry>
        </visual>
        <collision>
            <origin rpy="0 0 0" xyz="0 0 0"/>
            <material name="Blue"/>
            <geometry>
                <box size="0.0025 0.006 0.00465"/>
            </geometry>
        </collision>
    </link>
    <joint name="bh_link3_sensor20_joint" type="fixed">
        <origin rpy="0 0 0" xyz="0.005 0.05425 0.0"/>
        <parent link="bh_finger_34_link"/>
        <child link="bh_link3_sensor20_link"/>
    </joint>
    <link name="bh_link3_sensor20_link">
        <inertial>
            <mass value="0.1"/>
            <origin rpy="0 0 0" xyz="0 0 0"/>
            <inertia ixx="0.01" ixy="0" ixz="0" iyy="0.01" iyz="0" izz="0.01"/>
        </inertial>
        <visual>
            <origin rpy="0 0 0" xyz="0 0 0"/>
            <material name="Blue"/>
            <geometry>
                <box size="0.0025 0.006 0.0047"/>
            </geometry>
        </visual>
        <collision>
            <origin rpy="0 0 0" xyz="0 0 0"/>
            <material name="Blue"/>
            <geometry>
                <box size="0.0025 0.006 0.0047"/>
            </geometry>
        </collision>
    </link>
    <joint name="bh_link3_sensor21_joint" type="fixed">
        <origin rpy="0 0 0" xyz="0.005 0.05425 0.0052"/>
        <parent link="bh_finger_34_link"/>
        <child link="bh_link3_sensor21_link"/>
    </joint>
    <link name="bh_link3_sensor21_link">
        <inertial>
            <mass value="0.1"/>
            <origin rpy="0 0 0" xyz="0 0 0"/>
            <inertia ixx="0.01" ixy="0" ixz="0" iyy="0.01" iyz="0" izz="0.01"/>
        </inertial>
        <visual>
            <origin rpy="0 0 0" xyz="0 0 0"/>
            <material name="Blue"/>
            <geometry>
                <box size="0.0025 0.006 0.0047"/>
            </geometry>
        </visual>
        <collision>
            <origin rpy="0 0 0" xyz="0 0 0"/>
            <material name="Blue"/>
            <geometry>
                <box size="0.0025 0.006 0.0047"/>
            </geometry>
        </collision>
    </link>
    <joint name="bh_link3_sensor22_joint" type="fixed">
        <origin rpy="0 0 0" xyz="0.003 0.056625 -0.005175"/>
        <parent link="bh_finger_34_link"/>
        <child link="bh_link3_sensor22_link"/>
    </joint>
    <link name="bh_link3_sensor22_link">
        <inertial>
            <mass value="0.1"/>
            <origin rpy="0 0 0" xyz="0 0 0"/>
            <inertia ixx="0.01" ixy="0" ixz="0" iyy="0.01" iyz="0" izz="0.01"/>
        </inertial>
        <visual>
            <origin rpy="0 0 0" xyz="0 0 0"/>
            <material name="Blue"/>
            <geometry>
                <box size="0.00175 0.005 0.00465"/>
            </geometry>
        </visual>
        <collision>
            <origin rpy="0 0 0" xyz="0 0 0"/>
            <material name="Blue"/>
            <geometry>
                <box size="0.00175 0.005 0.00465"/>
            </geometry>
        </collision>
    </link>
    <joint name="bh_link3_sensor23_joint" type="fixed">
        <origin rpy="0 0 0" xyz="0.003 0.056625 0.0"/>
        <parent link="bh_finger_34_link"/>
        <child link="bh_link3_sensor23_link"/>
    </joint>
    <link name="bh_link3_sensor23_link">
        <inertial>
            <mass value="0.1"/>
            <origin rpy="0 0 0" xyz="0 0 0"/>
            <inertia ixx="0.01" ixy="0" ixz="0" iyy="0.01" iyz="0" izz="0.01"/>
        </inertial>
        <visual>
            <origin rpy="0 0 0" xyz="0 0 0"/>
            <material name="Blue"/>
            <geometry>
                <box size="0.00175 0.005 0.0047"/>
            </geometry>
        </visual>
        <collision>
            <origin rpy="0 0 0" xyz="0 0 0"/>
            <material name="Blue"/>
            <geometry>
                <box size="0.00175 0.005 0.0047"/>
            </geometry>
        </collision>
    </link>
    <joint name="bh_link3_sensor24_joint" type="fixed">
        <origin rpy="0 0 0" xyz="0.003 0.056625 0.0052"/>
        <parent link="bh_finger_34_link"/>
        <child link="bh_link3_sensor24_link"/>
    </joint>
    <link name="bh_link3_sensor24_link">
        <inertial>
            <mass value="0.1"/>
            <origin rpy="0 0 0" xyz="0 0 0"/>
            <inertia ixx="0.01" ixy="0" ixz="0" iyy="0.01" iyz="0" izz="0.01"/>
        </inertial>
        <visual>
            <origin rpy="0 0 0" xyz="0 0 0"/>
            <material name="Blue"/>
            <geometry>
                <box size="0.00175 0.005 0.0047"/>
            </geometry>
        </visual>
        <collision>
            <origin rpy="0 0 0" xyz="0 0 0"/>
            <material name="Blue"/>
            <geometry>
                <box size="0.00175 0.005 0.0047"/>
            </geometry>
        </collision>
    </link>
</robot>
